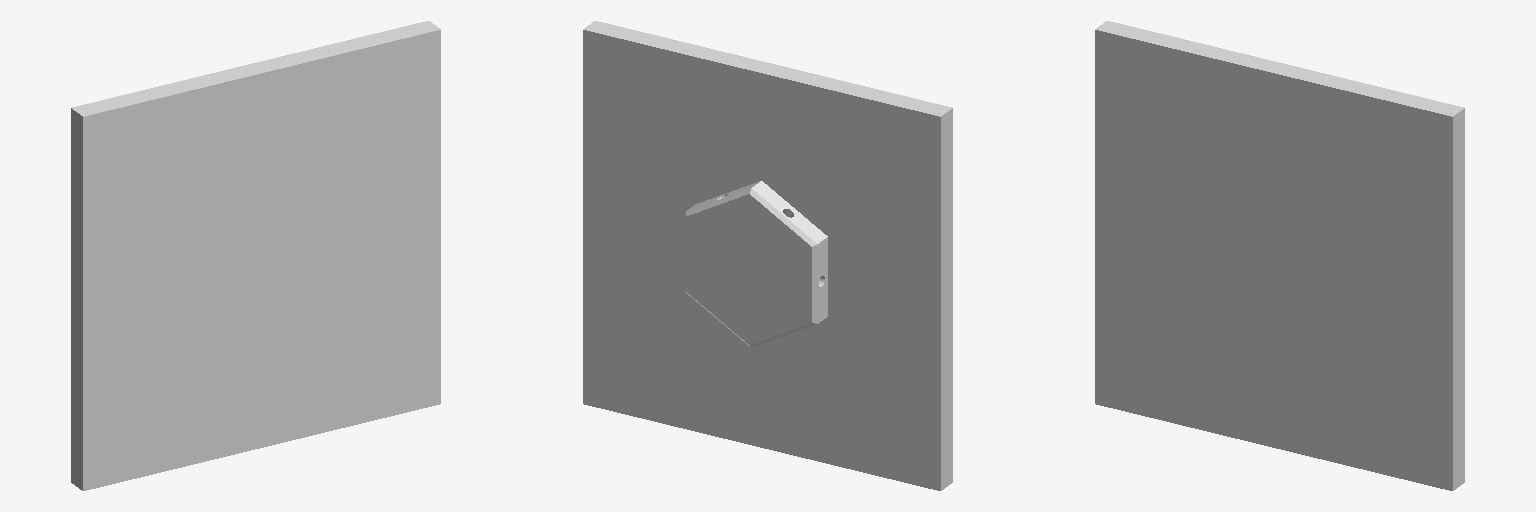
--- Render facts (derived) ---
Views: 3 orthographic renders of the robot side by side, from view 1: azimuth 30°, elevation 25°; view 2: azimuth 150°, elevation 25°; view 3: azimuth 330°, elevation 25°.
Robot: hephaestus_calbration — 7 links, 6 joints (6 revolute); root link link1; default pose: every joint at zero.
Visible links, largest first — view 1: link7; view 2: link7; view 3: link7.
Link boxes in pixels (x1=…): link7: x1=71, y1=21, x2=440, y2=490; link7: x1=583, y1=21, x2=952, y2=490; link7: x1=1095, y1=21, x2=1464, y2=490.
Bounding box of the posed robot: 100 × 12.09 × 100 m (x, y, z).
236 mesh visuals loaded from 52 distinct referenced files (51 binary STL); not drawn: 2 (reference not matched to a file when rendering).

robot.urdf — hephaestus_calbration:
<robot name="hephaestus_calbration">
<link name="link1">
<visual>
<origin xyz="1.3792584575397063074e-18 -1.7516230804060213387e-46 1.4171762190870562479e-48" rpy="2.8500753929115218458e-28 2.9400200094311407188e-31 -5.36636722058665712e-46" />
<geometry>
<mesh filename="package://hephaestus_description/meshes/base_link.stl"/>
</geometry>
<material name="base_link_material">
<color rgba="0 0 0 1.0"/>
</material>
</visual>
<collision>
<origin xyz="1.3792584575397063074e-18 -1.7516230804060213387e-46 1.4171762190870562479e-48" rpy="2.8500753929115218458e-28 2.9400200094311407188e-31 -5.36636722058665712e-46" />
<geometry>
<mesh filename="package://hephaestus_description/meshes/base_link.stl"/>
</geometry>
</collision>
<inertial>
<origin xyz="-3.1427067427220941083e-19 4.999089277745036229e-18 0.0015000000000000000312" rpy="0 0 0"/>
<mass value="0.078163293318619431194" />
<inertia ixx="0.00012319194219407781006" ixy="-4.8590653517577475747e-35"  ixz="2.1507073199217931643e-34" iyy="0.00012319194219407778295" iyz="-2.7341089331277944535e-20" izz="0.00024626663944817765283" />
</inertial>
</link>

<link name="link2">
<visual>
<origin xyz="0.0083434588481235694157 -0.043000000000000052069 -0.086678525939969150449" rpy="1.570796326794896558 1.570796326794896558 0" />
<geometry>
<mesh filename="package://hephaestus_description/meshes/m3_20mm.stl"/>
</geometry>
<material name="m3_20mm_material">
<color rgba="0.90196078431372550543 0.90196078431372550543 0.90196078431372550543 1.0"/>
</material>
</visual>
<collision>
<origin xyz="0.0083434588481235694157 -0.043000000000000052069 -0.086678525939969150449" rpy="1.570796326794896558 1.570796326794896558 0" />
<geometry>
<mesh filename="package://hephaestus_description/meshes/m3_20mm.stl"/>
</geometry>
</collision>
<visual>
<origin xyz="0.018500000000000016431 0.032042939940024210699 -0.0069999999999999541755" rpy="-3.141592653589793116 -1.0437261642823716977e-32 1.570796326794896558" />
<geometry>
<mesh filename="package://hephaestus_description/meshes/m3_25mm.stl"/>
</geometry>
<material name="m3_25mm_material">
<color rgba="0.90196078431372550543 0.90196078431372550543 0.90196078431372550543 1.0"/>
</material>
</visual>
<collision>
<origin xyz="0.018500000000000016431 0.032042939940024210699 -0.0069999999999999541755" rpy="-3.141592653589793116 -1.0437261642823716977e-32 1.570796326794896558" />
<geometry>
<mesh filename="package://hephaestus_description/meshes/m3_25mm.stl"/>
</geometry>
</collision>
<visual>
<origin xyz="-0.0083434588481228443013 -0.043000000000000010436 -0.086678525939969178205" rpy="1.570796326794896558 1.570796326794896558 0" />
<geometry>
<mesh filename="package://hephaestus_description/meshes/m3_20mm.stl"/>
</geometry>
<material name="m3_20mm_material">
<color rgba="0.90196078431372550543 0.90196078431372550543 0.90196078431372550543 1.0"/>
</material>
</visual>
<collision>
<origin xyz="-0.0083434588481228443013 -0.043000000000000010436 -0.086678525939969178205" rpy="1.570796326794896558 1.570796326794896558 0" />
<geometry>
<mesh filename="package://hephaestus_description/meshes/m3_20mm.stl"/>
</geometry>
</collision>
<visual>
<origin xyz="0.0083434588481235694157 -0.043000000000000065947 -0.035321474060033511422" rpy="1.570796326794896558 1.570796326794896558 0" />
<geometry>
<mesh filename="package://hephaestus_description/meshes/m3_20mm.stl"/>
</geometry>
<material name="m3_20mm_material">
<color rgba="0.90196078431372550543 0.90196078431372550543 0.90196078431372550543 1.0"/>
</material>
</visual>
<collision>
<origin xyz="0.0083434588481235694157 -0.043000000000000065947 -0.035321474060033511422" rpy="1.570796326794896558 1.570796326794896558 0" />
<geometry>
<mesh filename="package://hephaestus_description/meshes/m3_20mm.stl"/>
</geometry>
</collision>
<visual>
<origin xyz="0.025678525939968357278 -0.043000000000000031253 -0.069343458848124484017" rpy="1.570796326794896558 1.570796326794896558 0" />
<geometry>
<mesh filename="package://hephaestus_description/meshes/m3_20mm.stl"/>
</geometry>
<material name="m3_20mm_material">
<color rgba="0.90196078431372550543 0.90196078431372550543 0.90196078431372550543 1.0"/>
</material>
</visual>
<collision>
<origin xyz="0.025678525939968357278 -0.043000000000000031253 -0.069343458848124484017" rpy="1.570796326794896558 1.570796326794896558 0" />
<geometry>
<mesh filename="package://hephaestus_description/meshes/m3_20mm.stl"/>
</geometry>
</collision>
<visual>
<origin xyz="-6.498429976115837117e-18 -1.8029186155748759218e-17 -0.012999999999999964709" rpy="-9.9667941775237359666e-33 -1.0437261642816966386e-32 1.570796326794896558" />
<geometry>
<mesh filename="package://hephaestus_description/meshes/me8010e17b50_bracket.stl"/>
</geometry>
<material name="me8010e17b50_bracket_material">
<color rgba="0.90196078431372550543 0.90196078431372550543 0.90196078431372550543 1.0"/>
</material>
</visual>
<collision>
<origin xyz="-6.498429976115837117e-18 -1.8029186155748759218e-17 -0.012999999999999964709" rpy="-9.9667941775237359666e-33 -1.0437261642816966386e-32 1.570796326794896558" />
<geometry>
<mesh filename="package://hephaestus_description/meshes/me8010e17b50_bracket.stl"/>
</geometry>
</collision>
<visual>
<origin xyz="-0.021843458848122228322 -0.043000000000000059008 -0.045129798188105370305" rpy="1.570796326794896558 1.570796326794896558 0" />
<geometry>
<mesh filename="package://hephaestus_description/meshes/m3_20mm.stl"/>
</geometry>
<material name="m3_20mm_material">
<color rgba="0.90196078431372550543 0.90196078431372550543 0.90196078431372550543 1.0"/>
</material>
</visual>
<collision>
<origin xyz="-0.021843458848122228322 -0.043000000000000059008 -0.045129798188105370305" rpy="1.570796326794896558 1.570796326794896558 0" />
<geometry>
<mesh filename="package://hephaestus_description/meshes/m3_20mm.stl"/>
</geometry>
</collision>
<visual>
<origin xyz="0.015870201811896425537 -0.043000000000000024314 -0.082843458848123802118" rpy="1.570796326794896558 1.5707963267948958919 0" />
<geometry>
<mesh filename="package://hephaestus_description/meshes/m3_20mm.stl"/>
</geometry>
<material name="m3_20mm_material">
<color rgba="0.90196078431372550543 0.90196078431372550543 0.90196078431372550543 1.0"/>
</material>
</visual>
<collision>
<origin xyz="0.015870201811896425537 -0.043000000000000024314 -0.082843458848123802118" rpy="1.570796326794896558 1.5707963267948958919 0" />
<geometry>
<mesh filename="package://hephaestus_description/meshes/m3_20mm.stl"/>
</geometry>
</collision>
<visual>
<origin xyz="-0.018500000000000009492 -0.032042939940024259271 -0.0069999999999999611144" rpy="-3.141592653589793116 -1.0437261642823716977e-32 1.570796326794896558" />
<geometry>
<mesh filename="package://hephaestus_description/meshes/m3_25mm.stl"/>
</geometry>
<material name="m3_25mm_material">
<color rgba="0.90196078431372550543 0.90196078431372550543 0.90196078431372550543 1.0"/>
</material>
</visual>
<collision>
<origin xyz="-0.018500000000000009492 -0.032042939940024259271 -0.0069999999999999611144" rpy="-3.141592653589793116 -1.0437261642823716977e-32 1.570796326794896558" />
<geometry>
<mesh filename="package://hephaestus_description/meshes/m3_25mm.stl"/>
</geometry>
</collision>
<visual>
<origin xyz="-0.015870201811895665728 -0.043000000000000045131 -0.039156541151878859752" rpy="1.570796326794896558 1.5707963267948958919 0" />
<geometry>
<mesh filename="package://hephaestus_description/meshes/m3_20mm.stl"/>
</geometry>
<material name="m3_20mm_material">
<color rgba="0.90196078431372550543 0.90196078431372550543 0.90196078431372550543 1.0"/>
</material>
</visual>
<collision>
<origin xyz="-0.015870201811895665728 -0.043000000000000045131 -0.039156541151878859752" rpy="1.570796326794896558 1.5707963267948958919 0" />
<geometry>
<mesh filename="package://hephaestus_description/meshes/m3_20mm.stl"/>
</geometry>
</collision>
<visual>
<origin xyz="-0.015870201811895703892 -0.043000000000000024314 -0.082843458848123802118" rpy="1.570796326794896558 1.5707963267948956698 0" />
<geometry>
<mesh filename="package://hephaestus_description/meshes/m3_20mm.stl"/>
</geometry>
<material name="m3_20mm_material">
<color rgba="0.90196078431372550543 0.90196078431372550543 0.90196078431372550543 1.0"/>
</material>
</visual>
<collision>
<origin xyz="-0.015870201811895703892 -0.043000000000000024314 -0.082843458848123802118" rpy="1.570796326794896558 1.5707963267948956698 0" />
<geometry>
<mesh filename="package://hephaestus_description/meshes/m3_20mm.stl"/>
</geometry>
</collision>
<visual>
<origin xyz="-0.021843458848122224852 -0.043000000000000045131 -0.076870201811897340138" rpy="1.570796326794896558 1.570796326794896558 0" />
<geometry>
<mesh filename="package://hephaestus_description/meshes/m3_20mm.stl"/>
</geometry>
<material name="m3_20mm_material">
<color rgba="0.90196078431372550543 0.90196078431372550543 0.90196078431372550543 1.0"/>
</material>
</visual>
<collision>
<origin xyz="-0.021843458848122224852 -0.043000000000000045131 -0.076870201811897340138" rpy="1.570796326794896558 1.570796326794896558 0" />
<geometry>
<mesh filename="package://hephaestus_description/meshes/m3_20mm.stl"/>
</geometry>
</collision>
<visual>
<origin xyz="-0.025678525939967628694 -0.043000000000000052069 -0.052656541151878163975" rpy="1.570796326794896558 1.570796326794896558 0" />
<geometry>
<mesh filename="package://hephaestus_description/meshes/m3_20mm.stl"/>
</geometry>
<material name="m3_20mm_material">
<color rgba="0.90196078431372550543 0.90196078431372550543 0.90196078431372550543 1.0"/>
</material>
</visual>
<collision>
<origin xyz="-0.025678525939967628694 -0.043000000000000052069 -0.052656541151878163975" rpy="1.570796326794896558 1.570796326794896558 0" />
<geometry>
<mesh filename="package://hephaestus_description/meshes/m3_20mm.stl"/>
</geometry>
</collision>
<visual>
<origin xyz="0.032042939940024224577 -0.018500000000000044187 -0.006999999999999938563" rpy="-3.141592653589793116 -1.0437261642835255794e-32 1.570796326794896558" />
<geometry>
<mesh filename="package://hephaestus_description/meshes/m3_25mm.stl"/>
</geometry>
<material name="m3_25mm_material">
<color rgba="0.90196078431372550543 0.90196078431372550543 0.90196078431372550543 1.0"/>
</material>
</visual>
<collision>
<origin xyz="0.032042939940024224577 -0.018500000000000044187 -0.006999999999999938563" rpy="-3.141592653589793116 -1.0437261642835255794e-32 1.570796326794896558" />
<geometry>
<mesh filename="package://hephaestus_description/meshes/m3_25mm.stl"/>
</geometry>
</collision>
<visual>
<origin xyz="-0.018500000000000009492 0.032042939940024238454 -0.0069999999999999628492" rpy="-3.141592653589793116 -1.0437261642823716977e-32 1.570796326794896558" />
<geometry>
<mesh filename="package://hephaestus_description/meshes/m3_25mm.stl"/>
</geometry>
<material name="m3_25mm_material">
<color rgba="0.90196078431372550543 0.90196078431372550543 0.90196078431372550543 1.0"/>
</material>
</visual>
<collision>
<origin xyz="-0.018500000000000009492 0.032042939940024238454 -0.0069999999999999628492" rpy="-3.141592653589793116 -1.0437261642823716977e-32 1.570796326794896558" />
<geometry>
<mesh filename="package://hephaestus_description/meshes/m3_25mm.stl"/>
</geometry>
</collision>
<visual>
<origin xyz="0.021843458848122967314 -0.043000000000000052069 -0.045129798188105377243" rpy="1.570796326794896558 1.5707963267948958919 0" />
<geometry>
<mesh filename="package://hephaestus_description/meshes/m3_20mm.stl"/>
</geometry>
<material name="m3_20mm_material">
<color rgba="0.90196078431372550543 0.90196078431372550543 0.90196078431372550543 1.0"/>
</material>
</visual>
<collision>
<origin xyz="0.021843458848122967314 -0.043000000000000052069 -0.045129798188105377243" rpy="1.570796326794896558 1.5707963267948958919 0" />
<geometry>
<mesh filename="package://hephaestus_description/meshes/m3_20mm.stl"/>
</geometry>
</collision>
<visual>
<origin xyz="-0.025678525939967628694 -0.043000000000000045131 -0.069343458848124484017" rpy="1.570796326794896558 1.570796326794896558 0" />
<geometry>
<mesh filename="package://hephaestus_description/meshes/m3_20mm.stl"/>
</geometry>
<material name="m3_20mm_material">
<color rgba="0.90196078431372550543 0.90196078431372550543 0.90196078431372550543 1.0"/>
</material>
</visual>
<collision>
<origin xyz="-0.025678525939967628694 -0.043000000000000045131 -0.069343458848124484017" rpy="1.570796326794896558 1.570796326794896558 0" />
<geometry>
<mesh filename="package://hephaestus_description/meshes/m3_20mm.stl"/>
</geometry>
</collision>
<visual>
<origin xyz="-6.8386350077130765347e-18 0.037000000000000012046 -0.0069999999999999541755" rpy="-3.141592653589793116 -1.0437261642823716977e-32 1.570796326794896558" />
<geometry>
<mesh filename="package://hephaestus_description/meshes/m3_25mm.stl"/>
</geometry>
<material name="m3_25mm_material">
<color rgba="0.90196078431372550543 0.90196078431372550543 0.90196078431372550543 1.0"/>
</material>
</visual>
<collision>
<origin xyz="-6.8386350077130765347e-18 0.037000000000000012046 -0.0069999999999999541755" rpy="-3.141592653589793116 -1.0437261642823716977e-32 1.570796326794896558" />
<geometry>
<mesh filename="package://hephaestus_description/meshes/m3_25mm.stl"/>
</geometry>
</collision>
<visual>
<origin xyz="0.037000000000000005107 -2.0785110348950738811e-17 -0.0069999999999999507061" rpy="-3.141592653589793116 -1.0437261642823716977e-32 1.570796326794896558" />
<geometry>
<mesh filename="package://hephaestus_description/meshes/m3_25mm.stl"/>
</geometry>
<material name="m3_25mm_material">
<color rgba="0.90196078431372550543 0.90196078431372550543 0.90196078431372550543 1.0"/>
</material>
</visual>
<collision>
<origin xyz="0.037000000000000005107 -2.0785110348950738811e-17 -0.0069999999999999507061" rpy="-3.141592653589793116 -1.0437261642823716977e-32 1.570796326794896558" />
<geometry>
<mesh filename="package://hephaestus_description/meshes/m3_25mm.stl"/>
</geometry>
</collision>
<visual>
<origin xyz="-0.032042939940024238454 0.018499999999999995615 -0.0069999999999999489714" rpy="-3.141592653589793116 -1.0437261642823716977e-32 1.570796326794896558" />
<geometry>
<mesh filename="package://hephaestus_description/meshes/m3_25mm.stl"/>
</geometry>
<material name="m3_25mm_material">
<color rgba="0.90196078431372550543 0.90196078431372550543 0.90196078431372550543 1.0"/>
</material>
</visual>
<collision>
<origin xyz="-0.032042939940024238454 0.018499999999999995615 -0.0069999999999999489714" rpy="-3.141592653589793116 -1.0437261642823716977e-32 1.570796326794896558" />
<geometry>
<mesh filename="package://hephaestus_description/meshes/m3_25mm.stl"/>
</geometry>
</collision>
<visual>
<origin xyz="-0.032042939940024245393 -0.01850000000000002337 -0.006999999999999938563" rpy="-3.141592653589793116 -1.0437261642823716977e-32 1.570796326794896558" />
<geometry>
<mesh filename="package://hephaestus_description/meshes/m3_25mm.stl"/>
</geometry>
<material name="m3_25mm_material">
<color rgba="0.90196078431372550543 0.90196078431372550543 0.90196078431372550543 1.0"/>
</material>
</visual>
<collision>
<origin xyz="-0.032042939940024245393 -0.01850000000000002337 -0.006999999999999938563" rpy="-3.141592653589793116 -1.0437261642823716977e-32 1.570796326794896558" />
<geometry>
<mesh filename="package://hephaestus_description/meshes/m3_25mm.stl"/>
</geometry>
</collision>
<visual>
<origin xyz="0.015870201811896429006 -0.043000000000000038192 -0.03915654115187887363" rpy="1.570796326794896558 1.570796326794896558 0" />
<geometry>
<mesh filename="package://hephaestus_description/meshes/m3_20mm.stl"/>
</geometry>
<material name="m3_20mm_material">
<color rgba="0.90196078431372550543 0.90196078431372550543 0.90196078431372550543 1.0"/>
</material>
</visual>
<collision>
<origin xyz="0.015870201811896429006 -0.043000000000000038192 -0.03915654115187887363" rpy="1.570796326794896558 1.570796326794896558 0" />
<geometry>
<mesh filename="package://hephaestus_description/meshes/m3_20mm.stl"/>
</geometry>
</collision>
<visual>
<origin xyz="0.018499999999999985206 -0.032042939940024259271 -0.0069999999999999541755" rpy="-3.141592653589793116 -1.0437261642823716977e-32 1.570796326794896558" />
<geometry>
<mesh filename="package://hephaestus_description/meshes/m3_25mm.stl"/>
</geometry>
<material name="m3_25mm_material">
<color rgba="0.90196078431372550543 0.90196078431372550543 0.90196078431372550543 1.0"/>
</material>
</visual>
<collision>
<origin xyz="0.018499999999999985206 -0.032042939940024259271 -0.0069999999999999541755" rpy="-3.141592653589793116 -1.0437261642823716977e-32 1.570796326794896558" />
<geometry>
<mesh filename="package://hephaestus_description/meshes/m3_25mm.stl"/>
</geometry>
</collision>
<visual>
<origin xyz="0.025678525939968364217 -0.043000000000000031253 -0.052656541151878163975" rpy="1.570796326794896558 1.5707963267948958919 0" />
<geometry>
<mesh filename="package://hephaestus_description/meshes/m3_20mm.stl"/>
</geometry>
<material name="m3_20mm_material">
<color rgba="0.90196078431372550543 0.90196078431372550543 0.90196078431372550543 1.0"/>
</material>
</visual>
<collision>
<origin xyz="0.025678525939968364217 -0.043000000000000031253 -0.052656541151878163975" rpy="1.570796326794896558 1.5707963267948958919 0" />
<geometry>
<mesh filename="package://hephaestus_description/meshes/m3_20mm.stl"/>
</geometry>
</collision>
<visual>
<origin xyz="0.021843458848122963845 -0.043000000000000024314 -0.076870201811897312383" rpy="1.570796326794896558 1.570796326794896558 0" />
<geometry>
<mesh filename="package://hephaestus_description/meshes/m3_20mm.stl"/>
</geometry>
<material name="m3_20mm_material">
<color rgba="0.90196078431372550543 0.90196078431372550543 0.90196078431372550543 1.0"/>
</material>
</visual>
<collision>
<origin xyz="0.021843458848122963845 -0.043000000000000024314 -0.076870201811897312383" rpy="1.570796326794896558 1.570796326794896558 0" />
<geometry>
<mesh filename="package://hephaestus_description/meshes/m3_20mm.stl"/>
</geometry>
</collision>
<visual>
<origin xyz="-0.037000000000000012046 -1.3894436677572873739e-17 -0.0069999999999999524408" rpy="-3.141592653589793116 -1.0437261642823716977e-32 1.570796326794896558" />
<geometry>
<mesh filename="package://hephaestus_description/meshes/m3_25mm.stl"/>
</geometry>
<material name="m3_25mm_material">
<color rgba="0.90196078431372550543 0.90196078431372550543 0.90196078431372550543 1.0"/>
</material>
</visual>
<collision>
<origin xyz="-0.037000000000000012046 -1.3894436677572873739e-17 -0.0069999999999999524408" rpy="-3.141592653589793116 -1.0437261642823716977e-32 1.570796326794896558" />
<geometry>
<mesh filename="package://hephaestus_description/meshes/m3_25mm.stl"/>
</geometry>
</collision>
<visual>
<origin xyz="-0.0083434588481228182805 -0.043000000000000031253 -0.035321474060033504483" rpy="1.570796326794896558 1.570796326794896558 0" />
<geometry>
<mesh filename="package://hephaestus_description/meshes/m3_20mm.stl"/>
</geometry>
<material name="m3_20mm_material">
<color rgba="0.90196078431372550543 0.90196078431372550543 0.90196078431372550543 1.0"/>
</material>
</visual>
<collision>
<origin xyz="-0.0083434588481228182805 -0.043000000000000031253 -0.035321474060033504483" rpy="1.570796326794896558 1.570796326794896558 0" />
<geometry>
<mesh filename="package://hephaestus_description/meshes/m3_20mm.stl"/>
</geometry>
</collision>
<visual>
<origin xyz="0.032042939940024238454 0.018499999999999995615 -0.0069999999999999489714" rpy="-3.141592653589793116 -1.0437261642823716977e-32 1.570796326794896558" />
<geometry>
<mesh filename="package://hephaestus_description/meshes/m3_25mm.stl"/>
</geometry>
<material name="m3_25mm_material">
<color rgba="0.90196078431372550543 0.90196078431372550543 0.90196078431372550543 1.0"/>
</material>
</visual>
<collision>
<origin xyz="0.032042939940024238454 0.018499999999999995615 -0.0069999999999999489714" rpy="-3.141592653589793116 -1.0437261642823716977e-32 1.570796326794896558" />
<geometry>
<mesh filename="package://hephaestus_description/meshes/m3_25mm.stl"/>
</geometry>
</collision>
<visual>
<origin xyz="-1.1259062449298334462e-17 -0.037000000000000039801 -0.0069999999999999472367" rpy="-3.141592653589793116 -1.0437261642823716977e-32 1.570796326794896558" />
<geometry>
<mesh filename="package://hephaestus_description/meshes/m3_25mm.stl"/>
</geometry>
<material name="m3_25mm_material">
<color rgba="0.90196078431372550543 0.90196078431372550543 0.90196078431372550543 1.0"/>
</material>
</visual>
<collision>
<origin xyz="-1.1259062449298334462e-17 -0.037000000000000039801 -0.0069999999999999472367" rpy="-3.141592653589793116 -1.0437261642823716977e-32 1.570796326794896558" />
<geometry>
<mesh filename="package://hephaestus_description/meshes/m3_25mm.stl"/>
</geometry>
</collision>
<visual>
<origin xyz="-4.8404832616855861626e-19 -1.4170265403514080542e-17 -0.069999999999999978906" rpy="-1.4685109110633043062e-32 1.043726164281609468e-32 -1.570796326794896558" />
<geometry>
<mesh filename="package://hephaestus_description/meshes/base.stl"/>
</geometry>
<material name="base_material">
<color rgba="0 0 0 1.0"/>
</material>
</visual>
<collision>
<origin xyz="-4.8404832616855861626e-19 -1.4170265403514080542e-17 -0.069999999999999978906" rpy="-1.4685109110633043062e-32 1.043726164281609468e-32 -1.570796326794896558" />
<geometry>
<mesh filename="package://hephaestus_description/meshes/base.stl"/>
</geometry>
</collision>
<visual>
<origin xyz="-1.2037062152420224082e-35 -3.8518598887744717061e-34 0.0030000000000000000625" rpy="-3.141592653589793116 1.4685109110633043062e-32 -3.7424946697838026933e-31" />
<geometry>
<mesh filename="package://hephaestus_description/meshes/flange.stl"/>
</geometry>
<material name="flange_material">
<color rgba="0.90196078431372550543 0.90196078431372550543 0.90196078431372550543 1.0"/>
</material>
</visual>
<collision>
<origin xyz="-1.2037062152420224082e-35 -3.8518598887744717061e-34 0.0030000000000000000625" rpy="-3.141592653589793116 1.4685109110633043062e-32 -3.7424946697838026933e-31" />
<geometry>
<mesh filename="package://hephaestus_description/meshes/flange.stl"/>
</geometry>
</collision>
<inertial>
<origin xyz="8.8425527110183837714e-08 -0.0047244140532892988857 -0.035740371308818831564" rpy="0 0 0"/>
<mass value="1.1523014929706003606" />
<inertia ixx="0.0011723236064433472173" ixy="2.1940126307152708164e-09"  ixz="9.6385363703892172769e-10" iyy="0.0010177433725059531564" iyz="-7.029493520058219193e-05" izz="0.0012404580302936669359" />
</inertial>
</link>

<link name="link3">
<visual>
<origin xyz="-0.018500000000006063677 -0.032042939940027305445 -0.0070000000000029760638" rpy="3.1415926535897300553 5.7010285109476116487e-14 1.5707963267947127051" />
<geometry>
<mesh filename="package://hephaestus_description/meshes/m3_25mm.stl"/>
</geometry>
<material name="m3_25mm_material">
<color rgba="0.90196078431372550543 0.90196078431372550543 0.90196078431372550543 1.0"/>
</material>
</visual>
<collision>
<origin xyz="-0.018500000000006063677 -0.032042939940027305445 -0.0070000000000029760638" rpy="3.1415926535897300553 5.7010285109476116487e-14 1.5707963267947127051" />
<geometry>
<mesh filename="package://hephaestus_description/meshes/m3_25mm.stl"/>
</geometry>
</collision>
<visual>
<origin xyz="-0.032042939940023211498 0.018500000000007343903 -0.0070000000000031217806" rpy="3.1415926535897304994 5.7226550920441656821e-14 1.570796326794712261" />
<geometry>
<mesh filename="package://hephaestus_description/meshes/m3_25mm.stl"/>
</geometry>
<material name="m3_25mm_material">
<color rgba="0.90196078431372550543 0.90196078431372550543 0.90196078431372550543 1.0"/>
</material>
</visual>
<collision>
<origin xyz="-0.032042939940023211498 0.018500000000007343903 -0.0070000000000031217806" rpy="3.1415926535897304994 5.7226550920441656821e-14 1.570796326794712261" />
<geometry>
<mesh filename="package://hephaestus_description/meshes/m3_25mm.stl"/>
</geometry>
</collision>
<visual>
<origin xyz="-0.018499999999953178897 0.3110429399400820305 -0.0069999999999952738916" rpy="3.1415926535897304994 5.76883245572799983e-14 1.570796326794712483" />
<geometry>
<mesh filename="package://hephaestus_description/meshes/m3_25mm.stl"/>
</geometry>
<material name="m3_25mm_material">
<color rgba="0.90196078431372550543 0.90196078431372550543 0.90196078431372550543 1.0"/>
</material>
</visual>
<collision>
<origin xyz="-0.018499999999953178897 0.3110429399400820305 -0.0069999999999952738916" rpy="3.1415926535897304994 5.76883245572799983e-14 1.570796326794712483" />
<geometry>
<mesh filename="package://hephaestus_description/meshes/m3_25mm.stl"/>
</geometry>
</collision>
<visual>
<origin xyz="0.018500000000048717058 0.31104293994007814472 -0.0069999999999922762894" rpy="3.1415926535897304994 5.6939008643900087402e-14 1.570796326794712483" />
<geometry>
<mesh filename="package://hephaestus_description/meshes/m3_25mm.stl"/>
</geometry>
<material name="m3_25mm_material">
<color rgba="0.90196078431372550543 0.90196078431372550543 0.90196078431372550543 1.0"/>
</material>
</visual>
<collision>
<origin xyz="0.018500000000048717058 0.31104293994007814472 -0.0069999999999922762894" rpy="3.1415926535897304994 5.6939008643900087402e-14 1.570796326794712483" />
<geometry>
<mesh filename="package://hephaestus_description/meshes/m3_25mm.stl"/>
</geometry>
</collision>
<visual>
<origin xyz="-0.036999999999959003183 0.2790000000000539826 -0.0069999999999974318876" rpy="3.1415926535897304994 5.6939008643900087402e-14 1.570796326794712483" />
<geometry>
<mesh filename="package://hephaestus_description/meshes/m3_25mm.stl"/>
</geometry>
<material name="m3_25mm_material">
<color rgba="0.90196078431372550543 0.90196078431372550543 0.90196078431372550543 1.0"/>
</material>
</visual>
<collision>
<origin xyz="-0.036999999999959003183 0.2790000000000539826 -0.0069999999999974318876" rpy="3.1415926535897304994 5.6939008643900087402e-14 1.570796326794712483" />
<geometry>
<mesh filename="package://hephaestus_description/meshes/m3_25mm.stl"/>
</geometry>
</collision>
<visual>
<origin xyz="0.018500000000005751427 0.032042939940028616896 -0.0069999999999986323163" rpy="3.1415926535897304994 5.7226550920441656821e-14 1.570796326794712261" />
<geometry>
<mesh filename="package://hephaestus_description/meshes/m3_25mm.stl"/>
</geometry>
<material name="m3_25mm_material">
<color rgba="0.90196078431372550543 0.90196078431372550543 0.90196078431372550543 1.0"/>
</material>
</visual>
<collision>
<origin xyz="0.018500000000005751427 0.032042939940028616896 -0.0069999999999986323163" rpy="3.1415926535897304994 5.7226550920441656821e-14 1.570796326794712261" />
<geometry>
<mesh filename="package://hephaestus_description/meshes/m3_25mm.stl"/>
</geometry>
</collision>
<visual>
<origin xyz="0.03204293994006598284 0.26050000000004347456 -0.0069999999999922138394" rpy="3.1415926535897304994 5.6939008643900087402e-14 1.570796326794712483" />
<geometry>
<mesh filename="package://hephaestus_description/meshes/m3_25mm.stl"/>
</geometry>
<material name="m3_25mm_material">
<color rgba="0.90196078431372550543 0.90196078431372550543 0.90196078431372550543 1.0"/>
</material>
</visual>
<collision>
<origin xyz="0.03204293994006598284 0.26050000000004347456 -0.0069999999999922138394" rpy="3.1415926535897304994 5.6939008643900087402e-14 1.570796326794712483" />
<geometry>
<mesh filename="package://hephaestus_description/meshes/m3_25mm.stl"/>
</geometry>
</collision>
<visual>
<origin xyz="4.8587459908183552396e-14 0.31600000000005679102 -0.0069999999999936571293" rpy="3.1415926535897304994 5.6939008643900087402e-14 1.570796326794712483" />
<geometry>
<mesh filename="package://hephaestus_description/meshes/m3_25mm.stl"/>
</geometry>
<material name="m3_25mm_material">
<color rgba="0.90196078431372550543 0.90196078431372550543 0.90196078431372550543 1.0"/>
</material>
</visual>
<collision>
<origin xyz="4.8587459908183552396e-14 0.31600000000005679102 -0.0069999999999936571293" rpy="3.1415926535897304994 5.6939008643900087402e-14 1.570796326794712483" />
<geometry>
<mesh filename="package://hephaestus_description/meshes/m3_25mm.stl"/>
</geometry>
</collision>
<visual>
<origin xyz="-0.0059999999999653568297 0.2290000000000423086 -0.011999999999996346922" rpy="-1.5707963267950570962 -1.5707963267948443775 0" />
<geometry>
<mesh filename="package://hephaestus_description/meshes/m3_6mm.stl"/>
</geometry>
<material name="m3_6mm_material">
<color rgba="0.90196078431372550543 0.90196078431372550543 0.90196078431372550543 1.0"/>
</material>
</visual>
<collision>
<origin xyz="-0.0059999999999653568297 0.2290000000000423086 -0.011999999999996346922" rpy="-1.5707963267950570962 -1.5707963267948443775 0" />
<geometry>
<mesh filename="package://hephaestus_description/meshes/m3_6mm.stl"/>
</geometry>
</collision>
<visual>
<origin xyz="0.032042939940071610283 0.29750000000005005774 -0.0069999999999914436222" rpy="3.1415926535897304994 5.7680404949993763029e-14 1.570796326794712483" />
<geometry>
<mesh filename="package://hephaestus_description/meshes/m3_25mm.stl"/>
</geometry>
<material name="m3_25mm_material">
<color rgba="0.90196078431372550543 0.90196078431372550543 0.90196078431372550543 1.0"/>
</material>
</visual>
<collision>
<origin xyz="0.032042939940071610283 0.29750000000005005774 -0.0069999999999914436222" rpy="3.1415926535897304994 5.7680404949993763029e-14 1.570796326794712483" />
<geometry>
<mesh filename="package://hephaestus_description/meshes/m3_25mm.stl"/>
</geometry>
</collision>
<visual>
<origin xyz="0.018499999999995877381 -0.032042939940031246737 -0.0069999999999999229505" rpy="3.1415926535897300553 5.7010285109476116487e-14 1.5707963267947127051" />
<geometry>
<mesh filename="package://hephaestus_description/meshes/m3_25mm.stl"/>
</geometry>
<material name="m3_25mm_material">
<color rgba="0.90196078431372550543 0.90196078431372550543 0.90196078431372550543 1.0"/>
</material>
</visual>
<collision>
<origin xyz="0.018499999999995877381 -0.032042939940031246737 -0.0069999999999999229505" rpy="3.1415926535897300553 5.7010285109476116487e-14 1.5707963267947127051" />
<geometry>
<mesh filename="package://hephaestus_description/meshes/m3_25mm.stl"/>
</geometry>
</collision>
<visual>
<origin xyz="-0.032042939940028887513 -0.018499999999999218459 -0.0070000000000038364867" rpy="3.1415926535897300553 5.7010285109476116487e-14 1.5707963267947127051" />
<geometry>
<mesh filename="package://hephaestus_description/meshes/m3_25mm.stl"/>
</geometry>
<material name="m3_25mm_material">
<color rgba="0.90196078431372550543 0.90196078431372550543 0.90196078431372550543 1.0"/>
</material>
</visual>
<collision>
<origin xyz="-0.032042939940028887513 -0.018499999999999218459 -0.0070000000000038364867" rpy="3.1415926535897300553 5.7010285109476116487e-14 1.5707963267947127051" />
<geometry>
<mesh filename="package://hephaestus_description/meshes/m3_25mm.stl"/>
</geometry>
</collision>
<visual>
<origin xyz="-0.0059999999999655806091 0.22900000000004297473 -0.023999999999997564948" rpy="-1.5707963267950570962 -1.5707963267948443775 0" />
<geometry>
<mesh filename="package://hephaestus_description/meshes/m3_6mm.stl"/>
</geometry>
<material name="m3_6mm_material">
<color rgba="0.90196078431372550543 0.90196078431372550543 0.90196078431372550543 1.0"/>
</material>
</visual>
<collision>
<origin xyz="-0.0059999999999655806091 0.22900000000004297473 -0.023999999999997564948" rpy="-1.5707963267950570962 -1.5707963267948443775 0" />
<geometry>
<mesh filename="package://hephaestus_description/meshes/m3_6mm.stl"/>
</geometry>
</collision>
<visual>
<origin xyz="0.037000000000044788728 0.27900000000004610001 -0.0069999999999913811721" rpy="3.1415926535897304994 5.6939008643900087402e-14 1.570796326794712483" />
<geometry>
<mesh filename="package://hephaestus_description/meshes/m3_25mm.stl"/>
</geometry>
<material name="m3_25mm_material">
<color rgba="0.90196078431372550543 0.90196078431372550543 0.90196078431372550543 1.0"/>
</material>
</visual>
<collision>
<origin xyz="0.037000000000044788728 0.27900000000004610001 -0.0069999999999913811721" rpy="3.1415926535897304994 5.6939008643900087402e-14 1.570796326794712483" />
<geometry>
<mesh filename="package://hephaestus_description/meshes/m3_25mm.stl"/>
</geometry>
</collision>
<visual>
<origin xyz="6.6996458551049380928e-15 0.048000000000011991408 -0.049000000000003457457" rpy="-1.5707963267950564301 -1.5707963267948443775 0" />
<geometry>
<mesh filename="package://hephaestus_description/meshes/aluminum_tube_11_32_183.stl"/>
</geometry>
<material name="aluminum_tube_11_32_183_material">
<color rgba="0.90196078431372550543 0.90196078431372550543 0.90196078431372550543 1.0"/>
</material>
</visual>
<collision>
<origin xyz="6.6996458551049380928e-15 0.048000000000011991408 -0.049000000000003457457" rpy="-1.5707963267950564301 -1.5707963267948443775 0" />
<geometry>
<mesh filename="package://hephaestus_description/meshes/aluminum_tube_11_32_183.stl"/>
</geometry>
</collision>
<visual>
<origin xyz="-0.011999999999995188127 0.040025000000011828893 -0.049000000000004678702" rpy="-1.5707963267950564301 -1.5707963267948443775 0" />
<geometry>
<mesh filename="package://hephaestus_description/meshes/m4_8mm.stl"/>
</geometry>
<material name="m4_8mm_material">
<color rgba="0.90196078431372550543 0.90196078431372550543 0.90196078431372550543 1.0"/>
</material>
</visual>
<collision>
<origin xyz="-0.011999999999995188127 0.040025000000011828893 -0.049000000000004678702" rpy="-1.5707963267950564301 -1.5707963267948443775 0" />
<geometry>
<mesh filename="package://hephaestus_description/meshes/m4_8mm.stl"/>
</geometry>
</collision>
<visual>
<origin xyz="0.006000000000007656327 0.050000000000010050294 -0.024000000000000729083" rpy="1.5707963267950566522 1.5707963267948443775 0" />
<geometry>
<mesh filename="package://hephaestus_description/meshes/m3_6mm.stl"/>
</geometry>
<material name="m3_6mm_material">
<color rgba="0.90196078431372550543 0.90196078431372550543 0.90196078431372550543 1.0"/>
</material>
</visual>
<collision>
<origin xyz="0.006000000000007656327 0.050000000000010050294 -0.024000000000000729083" rpy="1.5707963267950566522 1.5707963267948443775 0" />
<geometry>
<mesh filename="package://hephaestus_description/meshes/m3_6mm.stl"/>
</geometry>
</collision>
<visual>
<origin xyz="-0.0059999999999928443906 0.050000000000010549894 -0.012000000000000704548" rpy="1.5707963267950566522 1.5707963267948443775 0" />
<geometry>
<mesh filename="package://hephaestus_description/meshes/m3_6mm.stl"/>
</geometry>
<material name="m3_6mm_material">
<color rgba="0.90196078431372550543 0.90196078431372550543 0.90196078431372550543 1.0"/>
</material>
</visual>
<collision>
<origin xyz="-0.0059999999999928443906 0.050000000000010549894 -0.012000000000000704548" rpy="1.5707963267950566522 1.5707963267948443775 0" />
<geometry>
<mesh filename="package://hephaestus_description/meshes/m3_6mm.stl"/>
</geometry>
</collision>
<visual>
<origin xyz="-5.8246591477463100075e-15 -0.037000000000005917045 -0.0070000000000016160406" rpy="3.1415926535897300553 5.7010285109476116487e-14 1.5707963267947127051" />
<geometry>
<mesh filename="package://hephaestus_description/meshes/m3_25mm.stl"/>
</geometry>
<material name="m3_25mm_material">
<color rgba="0.90196078431372550543 0.90196078431372550543 0.90196078431372550543 1.0"/>
</material>
</visual>
<collision>
<origin xyz="-5.8246591477463100075e-15 -0.037000000000005917045 -0.0070000000000016160406" rpy="3.1415926535897300553 5.7010285109476116487e-14 1.5707963267947127051" />
<geometry>
<mesh filename="package://hephaestus_description/meshes/m3_25mm.stl"/>
</geometry>
</collision>
<visual>
<origin xyz="-0.025999999999994746064 0.044000000000011252332 -0.0070000000000020254354" rpy="3.1415926535897300553 5.7877379539212291074e-14 1.570796326794712483" />
<geometry>
<mesh filename="package://hephaestus_description/meshes/m3_25mm.stl"/>
</geometry>
<material name="m3_25mm_material">
<color rgba="0.90196078431372550543 0.90196078431372550543 0.90196078431372550543 1.0"/>
</material>
</visual>
<collision>
<origin xyz="-0.025999999999994746064 0.044000000000011252332 -0.0070000000000020254354" rpy="3.1415926535897300553 5.7877379539212291074e-14 1.570796326794712483" />
<geometry>
<mesh filename="package://hephaestus_description/meshes/m3_25mm.stl"/>
</geometry>
</collision>
<visual>
<origin xyz="-0.0059999999999949694268 0.04002500000001191216 -0.059392304845418256165" rpy="-1.5707963267950564301 -1.5707963267948443775 0" />
<geometry>
<mesh filename="package://hephaestus_description/meshes/m4_8mm.stl"/>
</geometry>
<material name="m4_8mm_material">
<color rgba="0.90196078431372550543 0.90196078431372550543 0.90196078431372550543 1.0"/>
</material>
</visual>
<collision>
<origin xyz="-0.0059999999999949694268 0.04002500000001191216 -0.059392304845418256165" rpy="-1.5707963267950564301 -1.5707963267948443775 0" />
<geometry>
<mesh filename="package://hephaestus_description/meshes/m4_8mm.stl"/>
</geometry>
</collision>
<visual>
<origin xyz="3.7163031164116408449e-14 0.24200000000004354139 -0.0069999999999951975638" rpy="3.1415926535897304994 5.6939008643900087402e-14 1.570796326794712483" />
<geometry>
<mesh filename="package://hephaestus_description/meshes/m3_25mm.stl"/>
</geometry>
<material name="m3_25mm_material">
<color rgba="0.90196078431372550543 0.90196078431372550543 0.90196078431372550543 1.0"/>
</material>
</visual>
<collision>
<origin xyz="3.7163031164116408449e-14 0.24200000000004354139 -0.0069999999999951975638" rpy="3.1415926535897304994 5.6939008643900087402e-14 1.570796326794712483" />
<geometry>
<mesh filename="package://hephaestus_description/meshes/m3_25mm.stl"/>
</geometry>
</collision>
<visual>
<origin xyz="-0.025999999999965300868 0.235000000000045145 -0.0069999999999975012765" rpy="3.1415926535897304994 5.7680404949993763029e-14 1.570796326794712483" />
<geometry>
<mesh filename="package://hephaestus_description/meshes/m3_25mm.stl"/>
</geometry>
<material name="m3_25mm_material">
<color rgba="0.90196078431372550543 0.90196078431372550543 0.90196078431372550543 1.0"/>
</material>
</visual>
<collision>
<origin xyz="-0.025999999999965300868 0.235000000000045145 -0.0069999999999975012765" rpy="3.1415926535897304994 5.7680404949993763029e-14 1.570796326794712483" />
<geometry>
<mesh filename="package://hephaestus_description/meshes/m3_25mm.stl"/>
</geometry>
</collision>
<visual>
<origin xyz="0.0060000000000056986915 0.040025000000010135803 -0.059392304845418644743" rpy="-1.5707963267950575403 -1.5707963267948445996 0" />
<geometry>
<mesh filename="package://hephaestus_description/meshes/m4_8mm.stl"/>
</geometry>
<material name="m4_8mm_material">
<color rgba="0.90196078431372550543 0.90196078431372550543 0.90196078431372550543 1.0"/>
</material>
</visual>
<collision>
<origin xyz="0.0060000000000056986915 0.040025000000010135803 -0.059392304845418644743" rpy="-1.5707963267950575403 -1.5707963267948445996 0" />
<geometry>
<mesh filename="package://hephaestus_description/meshes/m4_8mm.stl"/>
</geometry>
</collision>
<visual>
<origin xyz="-0.0059999999999930057198 0.05000000000001132705 -0.024000000000001728284" rpy="1.5707963267950566522 1.5707963267948443775 0" />
<geometry>
<mesh filename="package://hephaestus_description/meshes/m3_6mm.stl"/>
</geometry>
<material name="m3_6mm_material">
<color rgba="0.90196078431372550543 0.90196078431372550543 0.90196078431372550543 1.0"/>
</material>
</visual>
<collision>
<origin xyz="-0.0059999999999930057198 0.05000000000001132705 -0.024000000000001728284" rpy="1.5707963267950566522 1.5707963267948443775 0" />
<geometry>
<mesh filename="package://hephaestus_description/meshes/m3_6mm.stl"/>
</geometry>
</collision>
<visual>
<origin xyz="-0.032042939939985894127 0.26050000000005024692 -0.0069999999999974180098" rpy="3.1415926535897304994 5.6939008643900087402e-14 1.570796326794712483" />
<geometry>
<mesh filename="package://hephaestus_description/meshes/m3_25mm.stl"/>
</geometry>
<material name="m3_25mm_material">
<color rgba="0.90196078431372550543 0.90196078431372550543 0.90196078431372550543 1.0"/>
</material>
</visual>
<collision>
<origin xyz="-0.032042939939985894127 0.26050000000005024692 -0.0069999999999974180098" rpy="3.1415926535897304994 5.6939008643900087402e-14 1.570796326794712483" />
<geometry>
<mesh filename="package://hephaestus_description/meshes/m3_25mm.stl"/>
</geometry>
</collision>
<visual>
<origin xyz="0.0060000000000078297993 0.05000000000000925926 -0.011999999999999733102" rpy="1.5707963267950566522 1.5707963267948443775 0" />
<geometry>
<mesh filename="package://hephaestus_description/meshes/m3_6mm.stl"/>
</geometry>
<material name="m3_6mm_material">
<color rgba="0.90196078431372550543 0.90196078431372550543 0.90196078431372550543 1.0"/>
</material>
</visual>
<collision>
<origin xyz="0.0060000000000078297993 0.05000000000000925926 -0.011999999999999733102" rpy="1.5707963267950566522 1.5707963267948443775 0" />
<geometry>
<mesh filename="package://hephaestus_description/meshes/m3_6mm.stl"/>
</geometry>
</collision>
<visual>
<origin xyz="0.032042939940028623835 0.018500000000000516032 -0.006999999999997862099" rpy="3.1415926535897300553 5.7877379539212291074e-14 1.570796326794712483" />
<geometry>
<mesh filename="package://hephaestus_description/meshes/m3_25mm.stl"/>
</geometry>
<material name="m3_25mm_material">
<color rgba="0.90196078431372550543 0.90196078431372550543 0.90196078431372550543 1.0"/>
</material>
</visual>
<collision>
<origin xyz="0.032042939940028623835 0.018500000000000516032 -0.006999999999997862099" rpy="3.1415926535897300553 5.7877379539212291074e-14 1.570796326794712483" />
<geometry>
<mesh filename="package://hephaestus_description/meshes/m3_25mm.stl"/>
</geometry>
</collision>
<visual>
<origin xyz="0.02600000000000800629 0.044000000000005756728 -0.0069999999999977510767" rpy="3.1415926535897300553 5.7877379539212291074e-14 1.570796326794712483" />
<geometry>
<mesh filename="package://hephaestus_description/meshes/m3_25mm.stl"/>
</geometry>
<material name="m3_25mm_material">
<color rgba="0.90196078431372550543 0.90196078431372550543 0.90196078431372550543 1.0"/>
</material>
</visual>
<collision>
<origin xyz="0.02600000000000800629 0.044000000000005756728 -0.0069999999999977510767" rpy="3.1415926535897300553 5.7877379539212291074e-14 1.570796326794712483" />
<geometry>
<mesh filename="package://hephaestus_description/meshes/m3_25mm.stl"/>
</geometry>
</collision>
<visual>
<origin xyz="0.0060000000000059745126 0.040025000000008706391 -0.038607695154589699582" rpy="-1.5707963267950575403 -1.5707963267948445996 0" />
<geometry>
<mesh filename="package://hephaestus_description/meshes/m4_8mm.stl"/>
</geometry>
<material name="m4_8mm_material">
<color rgba="0.90196078431372550543 0.90196078431372550543 0.90196078431372550543 1.0"/>
</material>
</visual>
<collision>
<origin xyz="0.0060000000000059745126 0.040025000000008706391 -0.038607695154589699582" rpy="-1.5707963267950575403 -1.5707963267948445996 0" />
<geometry>
<mesh filename="package://hephaestus_description/meshes/m4_8mm.stl"/>
</geometry>
</collision>
<visual>
<origin xyz="-0.018499999999996189631 0.032042939940032585944 -0.0070000000000016854296" rpy="3.1415926535897304994 5.7226550920441656821e-14 1.570796326794712261" />
<geometry>
<mesh filename="package://hephaestus_description/meshes/m3_25mm.stl"/>
</geometry>
<material name="m3_25mm_material">
<color rgba="0.90196078431372550543 0.90196078431372550543 0.90196078431372550543 1.0"/>
</material>
</visual>
<collision>
<origin xyz="-0.018499999999996189631 0.032042939940032585944 -0.0070000000000016854296" rpy="3.1415926535897304994 5.7226550920441656821e-14 1.570796326794712261" />
<geometry>
<mesh filename="package://hephaestus_description/meshes/m3_25mm.stl"/>
</geometry>
</collision>
<visual>
<origin xyz="-0.018499999999963070291 0.2469570600600222432 -0.0069999999999966408537" rpy="3.1415926535897304994 5.6939008643900087402e-14 1.570796326794712483" />
<geometry>
<mesh filename="package://hephaestus_description/meshes/m3_25mm.stl"/>
</geometry>
<material name="m3_25mm_material">
<color rgba="0.90196078431372550543 0.90196078431372550543 0.90196078431372550543 1.0"/>
</material>
</visual>
<collision>
<origin xyz="-0.018499999999963070291 0.2469570600600222432 -0.0069999999999966408537" rpy="3.1415926535897304994 5.6939008643900087402e-14 1.570796326794712483" />
<geometry>
<mesh filename="package://hephaestus_description/meshes/m3_25mm.stl"/>
</geometry>
</collision>
<visual>
<origin xyz="0.02600000000003749312 0.23500000000003948286 -0.0069999999999932269179" rpy="3.1415926535897304994 5.6939008643900087402e-14 1.570796326794712483" />
<geometry>
<mesh filename="package://hephaestus_description/meshes/m3_25mm.stl"/>
</geometry>
<material name="m3_25mm_material">
<color rgba="0.90196078431372550543 0.90196078431372550543 0.90196078431372550543 1.0"/>
</material>
</visual>
<collision>
<origin xyz="0.02600000000003749312 0.23500000000003948286 -0.0069999999999932269179" rpy="3.1415926535897304994 5.6939008643900087402e-14 1.570796326794712483" />
<geometry>
<mesh filename="package://hephaestus_description/meshes/m3_25mm.stl"/>
</geometry>
</collision>
<visual>
<origin xyz="0.032042939940022954759 -0.01850000000000604633 -0.0069999999999985768051" rpy="3.1415926535897300553 5.7877379539212291074e-14 1.570796326794712483" />
<geometry>
<mesh filename="package://hephaestus_description/meshes/m3_25mm.stl"/>
</geometry>
<material name="m3_25mm_material">
<color rgba="0.90196078431372550543 0.90196078431372550543 0.90196078431372550543 1.0"/>
</material>
</visual>
<collision>
<origin xyz="0.032042939940022954759 -0.01850000000000604633 -0.0069999999999985768051" rpy="3.1415926535897300553 5.7877379539212291074e-14 1.570796326794712483" />
<geometry>
<mesh filename="package://hephaestus_description/meshes/m3_25mm.stl"/>
</geometry>
</collision>
<visual>
<origin xyz="-0.032042939939980218111 0.29750000000005694112 -0.0069999999999966477926" rpy="3.1415926535897304994 5.7680404949993763029e-14 1.570796326794712483" />
<geometry>
<mesh filename="package://hephaestus_description/meshes/m3_25mm.stl"/>
</geometry>
<material name="m3_25mm_material">
<color rgba="0.90196078431372550543 0.90196078431372550543 0.90196078431372550543 1.0"/>
</material>
</visual>
<collision>
<origin xyz="-0.032042939939980218111 0.29750000000005694112 -0.0069999999999966477926" rpy="3.1415926535897304994 5.7680404949993763029e-14 1.570796326794712483" />
<geometry>
<mesh filename="package://hephaestus_description/meshes/m3_25mm.stl"/>
</geometry>
</collision>
<visual>
<origin xyz="0.0060000000000352514407 0.22900000000004164247 -0.023999999999996565747" rpy="-1.5707963267950570962 -1.5707963267948443775 0" />
<geometry>
<mesh filename="package://hephaestus_description/meshes/m3_6mm.stl"/>
</geometry>
<material name="m3_6mm_material">
<color rgba="0.90196078431372550543 0.90196078431372550543 0.90196078431372550543 1.0"/>
</material>
</visual>
<collision>
<origin xyz="0.0060000000000352514407 0.22900000000004164247 -0.023999999999996565747" rpy="-1.5707963267950570962 -1.5707963267948443775 0" />
<geometry>
<mesh filename="package://hephaestus_description/meshes/m3_6mm.stl"/>
</geometry>
</collision>
<visual>
<origin xyz="5.5581362328973795257e-15 0.037000000000007249312 -0.0070000000000000547895" rpy="3.1415926535897300553 5.7877379539212291074e-14 1.570796326794712483" />
<geometry>
<mesh filename="package://hephaestus_description/meshes/m3_25mm.stl"/>
</geometry>
<material name="m3_25mm_material">
<color rgba="0.90196078431372550543 0.90196078431372550543 0.90196078431372550543 1.0"/>
</material>
</visual>
<collision>
<origin xyz="5.5581362328973795257e-15 0.037000000000007249312 -0.0070000000000000547895" rpy="3.1415926535897300553 5.7877379539212291074e-14 1.570796326794712483" />
<geometry>
<mesh filename="package://hephaestus_description/meshes/m3_25mm.stl"/>
</geometry>
</collision>
<visual>
<origin xyz="-0.0059999999999950206012 0.040025000000010024781 -0.038607695154590698783" rpy="-1.5707963267950575403 -1.5707963267948445996 0" />
<geometry>
<mesh filename="package://hephaestus_description/meshes/m4_8mm.stl"/>
</geometry>
<material name="m4_8mm_material">
<color rgba="0.90196078431372550543 0.90196078431372550543 0.90196078431372550543 1.0"/>
</material>
</visual>
<collision>
<origin xyz="-0.0059999999999950206012 0.040025000000010024781 -0.038607695154590698783" rpy="-1.5707963267950575403 -1.5707963267948445996 0" />
<geometry>
<mesh filename="package://hephaestus_description/meshes/m4_8mm.stl"/>
</geometry>
</collision>
<visual>
<origin xyz="0.037000000000001823097 -3.2612801348363973375e-15 -0.0069999999999977927101" rpy="3.1415926535897300553 5.7010285109476116487e-14 1.5707963267947127051" />
<geometry>
<mesh filename="package://hephaestus_description/meshes/m3_25mm.stl"/>
</geometry>
<material name="m3_25mm_material">
<color rgba="0.90196078431372550543 0.90196078431372550543 0.90196078431372550543 1.0"/>
</material>
</visual>
<collision>
<origin xyz="0.037000000000001823097 -3.2612801348363973375e-15 -0.0069999999999977927101" rpy="3.1415926535897300553 5.7010285109476116487e-14 1.5707963267947127051" />
<geometry>
<mesh filename="package://hephaestus_description/meshes/m3_25mm.stl"/>
</geometry>
</collision>
<visual>
<origin xyz="-0.037000000000002079836 4.593547764386585186e-15 -0.0070000000000038434256" rpy="3.1415926535897300553 5.7010285109476116487e-14 1.5707963267947127051" />
<geometry>
<mesh filename="package://hephaestus_description/meshes/m3_25mm.stl"/>
</geometry>
<material name="m3_25mm_material">
<color rgba="0.90196078431372550543 0.90196078431372550543 0.90196078431372550543 1.0"/>
</material>
</visual>
<collision>
<origin xyz="-0.037000000000002079836 4.593547764386585186e-15 -0.0070000000000038434256" rpy="3.1415926535897300553 5.7010285109476116487e-14 1.5707963267947127051" />
<geometry>
<mesh filename="package://hephaestus_description/meshes/m3_25mm.stl"/>
</geometry>
</collision>
<visual>
<origin xyz="0.012000000000006319847 0.040025000000008789658 -0.049000000000003735012" rpy="-1.5707963267950575403 -1.5707963267948445996 0" />
<geometry>
<mesh filename="package://hephaestus_description/meshes/m4_8mm.stl"/>
</geometry>
<material name="m4_8mm_material">
<color rgba="0.90196078431372550543 0.90196078431372550543 0.90196078431372550543 1.0"/>
</material>
</visual>
<collision>
<origin xyz="0.012000000000006319847 0.040025000000008789658 -0.049000000000003735012" rpy="-1.5707963267950575403 -1.5707963267948445996 0" />
<geometry>
<mesh filename="package://hephaestus_description/meshes/m4_8mm.stl"/>
</geometry>
</collision>
<visual>
<origin xyz="0.018500000000038860359 0.24695706006001824639 -0.0069999999999935877404" rpy="3.1415926535897304994 5.6939008643900087402e-14 1.570796326794712483" />
<geometry>
<mesh filename="package://hephaestus_description/meshes/m3_25mm.stl"/>
</geometry>
<material name="m3_25mm_material">
<color rgba="0.90196078431372550543 0.90196078431372550543 0.90196078431372550543 1.0"/>
</material>
</visual>
<collision>
<origin xyz="0.018500000000038860359 0.24695706006001824639 -0.0069999999999935877404" rpy="3.1415926535897304994 5.6939008643900087402e-14 1.570796326794712483" />
<geometry>
<mesh filename="package://hephaestus_description/meshes/m3_25mm.stl"/>
</geometry>
</collision>
<visual>
<origin xyz="0.0060000000000354422602 0.22900000000004097633 -0.011999999999995375477" rpy="-1.5707963267950570962 -1.5707963267948443775 0" />
<geometry>
<mesh filename="package://hephaestus_description/meshes/m3_6mm.stl"/>
</geometry>
<material name="m3_6mm_material">
<color rgba="0.90196078431372550543 0.90196078431372550543 0.90196078431372550543 1.0"/>
</material>
</visual>
<collision>
<origin xyz="0.0060000000000354422602 0.22900000000004097633 -0.011999999999995375477" rpy="-1.5707963267950570962 -1.5707963267948443775 0" />
<geometry>
<mesh filename="package://hephaestus_description/meshes/m3_6mm.stl"/>
</geometry>
</collision>
<visual>
<origin xyz="4.2019131745180249755e-14 0.2790000000000539826 -0.069999999999999784617" rpy="7.8825834748387281884e-15 1.3234628252857624897e-13 -1.5707963267950328934" />
<geometry>
<mesh filename="package://hephaestus_description/meshes/base.stl"/>
</geometry>
<material name="base_material">
<color rgba="0 0 0 1.0"/>
</material>
</visual>
<collision>
<origin xyz="4.2019131745180249755e-14 0.2790000000000539826 -0.069999999999999784617" rpy="7.8825834748387281884e-15 1.3234628252857624897e-13 -1.5707963267950328934" />
<geometry>
<mesh filename="package://hephaestus_description/meshes/base.stl"/>
</geometry>
</collision>
<visual>
<origin xyz="4.2973812524054909521e-14 0.2790000000000495417 0.0030000000000064072636" rpy="3.141592653589793116 4.4408920985006217244e-16 -5.5511151231244071259e-17" />
<geometry>
<mesh filename="package://hephaestus_description/meshes/flange.stl"/>
</geometry>
<material name="flange_material">
<color rgba="0.90196078431372550543 0.90196078431372550543 0.90196078431372550543 1.0"/>
</material>
</visual>
<collision>
<origin xyz="4.2973812524054909521e-14 0.2790000000000495417 0.0030000000000064072636" rpy="3.141592653589793116 4.4408920985006217244e-16 -5.5511151231244071259e-17" />
<geometry>
<mesh filename="package://hephaestus_description/meshes/flange.stl"/>
</geometry>
</collision>
<visual>
<origin xyz="4.2740471399854407668e-14 0.27900000000005042988 -0.012999999999994987787" rpy="-4.807265696626941704e-14 -1.3617329402965800403e-13 1.5707963267947064878" />
<geometry>
<mesh filename="package://hephaestus_description/meshes/me8010e17b50_bracket_asm_1.stl"/>
</geometry>
<material name="me8010e17b50_bracket_asm_1_material">
<color rgba="0.90196078431372550543 0.90196078431372550543 0.90196078431372550543 1.0"/>
</material>
</visual>
<collision>
<origin xyz="4.2740471399854407668e-14 0.27900000000005042988 -0.012999999999994987787" rpy="-4.807265696626941704e-14 -1.3617329402965800403e-13 1.5707963267947064878" />
<geometry>
<mesh filename="package://hephaestus_description/meshes/me8010e17b50_bracket_asm_1.stl"/>
</geometry>
</collision>
<visual>
<origin xyz="4.2468966359182453924e-14 0.27900000000005142908 -0.028999999999996542432" rpy="3.1415926535897398253 5.7853620717353610505e-14 1.570796326794712261" />
<geometry>
<mesh filename="package://hephaestus_description/meshes/me8010e17b50_bracket_asm_3.stl"/>
</geometry>
<material name="me8010e17b50_bracket_asm_3_material">
<color rgba="0.90196078431372550543 0.90196078431372550543 0.90196078431372550543 1.0"/>
</material>
</visual>
<collision>
<origin xyz="4.2468966359182453924e-14 0.27900000000005142908 -0.028999999999996542432" rpy="3.1415926535897398253 5.7853620717353610505e-14 1.570796326794712261" />
<geometry>
<mesh filename="package://hephaestus_description/meshes/me8010e17b50_bracket_asm_3.stl"/>
</geometry>
</collision>
<visual>
<origin xyz="-9.7029329015842775849e-16 4.7878367936959875806e-15 -0.070000000000006140644" rpy="7.5495165674511875372e-15 1.3254670912496925565e-13 -1.5707963267950324493" />
<geometry>
<mesh filename="package://hephaestus_description/meshes/base.stl"/>
</geometry>
<material name="base_material">
<color rgba="0 0 0 1.0"/>
</material>
</visual>
<collision>
<origin xyz="-9.7029329015842775849e-16 4.7878367936959875806e-15 -0.070000000000006140644" rpy="7.5495165674511875372e-15 1.3254670912496925565e-13 -1.5707963267950324493" />
<geometry>
<mesh filename="package://hephaestus_description/meshes/base.stl"/>
</geometry>
</collision>
<visual>
<origin xyz="1.8488927466117464189e-32 0 0.0029999999999999957256" rpy="-3.141592653589793116 -3.0892526523193908693e-31 1.0529537655545236493e-33" />
<geometry>
<mesh filename="package://hephaestus_description/meshes/flange.stl"/>
</geometry>
<material name="flange_material">
<color rgba="0.90196078431372550543 0.90196078431372550543 0.90196078431372550543 1.0"/>
</material>
</visual>
<collision>
<origin xyz="1.8488927466117464189e-32 0 0.0029999999999999957256" rpy="-3.141592653589793116 -3.0892526523193908693e-31 1.0529537655545236493e-33" />
<geometry>
<mesh filename="package://hephaestus_description/meshes/flange.stl"/>
</geometry>
</collision>
<visual>
<origin xyz="-2.0732027206081905546e-16 1.0963452368173420837e-15 -0.013000000000001343814" rpy="7.7160500211449578628e-15 1.3322921617288480574e-13 -1.5707963267950328934" />
<geometry>
<mesh filename="package://hephaestus_description/meshes/me8010e17b50_bracket_asm_1.stl"/>
</geometry>
<material name="me8010e17b50_bracket_asm_1_material">
<color rgba="0.90196078431372550543 0.90196078431372550543 0.90196078431372550543 1.0"/>
</material>
</visual>
<collision>
<origin xyz="-2.0732027206081905546e-16 1.0963452368173420837e-15 -0.013000000000001343814" rpy="7.7160500211449578628e-15 1.3322921617288480574e-13 -1.5707963267950328934" />
<geometry>
<mesh filename="package://hephaestus_description/meshes/me8010e17b50_bracket_asm_1.stl"/>
</geometry>
</collision>
<visual>
<origin xyz="-4.1290582064566569186e-16 2.1233015345956118836e-15 -0.029000000000002787437" rpy="-3.1415926535897846783 1.3334699468924108205e-13 -1.5707963267950324493" />
<geometry>
<mesh filename="package://hephaestus_description/meshes/me8010e17b50_bracket_asm_3.stl"/>
</geometry>
<material name="me8010e17b50_bracket_asm_3_material">
<color rgba="0.90196078431372550543 0.90196078431372550543 0.90196078431372550543 1.0"/>
</material>
</visual>
<collision>
<origin xyz="-4.1290582064566569186e-16 2.1233015345956118836e-15 -0.029000000000002787437" rpy="-3.1415926535897846783 1.3334699468924108205e-13 -1.5707963267950324493" />
<geometry>
<mesh filename="package://hephaestus_description/meshes/me8010e17b50_bracket_asm_3.stl"/>
</geometry>
</collision>
<inertial>
<origin xyz="2.056852602075489383e-14 0.13905499163507623051 -0.036243742585867037842" rpy="0 0 0"/>
<mass value="2.548743890879638041" />
<inertia ixx="0.044157339046548976791" ixy="-8.2966765744680158281e-10"  ixz="-2.0564427998213750771e-17" iyy="0.001941569732532353763" iyz="-1.4468304719733333913e-05" izz="0.044276484530402469841" />
</inertial>
</link>

<link name="link4">
<visual>
<origin xyz="0.0059999999999990694458 0.032000000000000583533 -0.031607695154591469722" rpy="-1.5707963267949309749 1.5707963267948308328 0" />
<geometry>
<mesh filename="package://hephaestus_description/meshes/m4_14mm.stl"/>
</geometry>
<material name="m4_14mm_material">
<color rgba="0.90196078431372550543 0.90196078431372550543 0.90196078431372550543 1.0"/>
</material>
</visual>
<collision>
<origin xyz="0.0059999999999990694458 0.032000000000000583533 -0.031607695154591469722" rpy="-1.5707963267949309749 1.5707963267948308328 0" />
<geometry>
<mesh filename="package://hephaestus_description/meshes/m4_14mm.stl"/>
</geometry>
</collision>
<visual>
<origin xyz="0.011874999999990434874 0.29956810333989997153 -0.01400000000001980216" rpy="-3.1415926535897753524 -1.6409096303959833862e-13 -1.5707963267948563679" />
<geometry>
<mesh filename="package://hephaestus_description/meshes/m3_6mm.stl"/>
</geometry>
<material name="m3_6mm_material">
<color rgba="0.90196078431372550543 0.90196078431372550543 0.90196078431372550543 1.0"/>
</material>
</visual>
<collision>
<origin xyz="0.011874999999990434874 0.29956810333989997153 -0.01400000000001980216" rpy="-3.1415926535897753524 -1.6409096303959833862e-13 -1.5707963267948563679" />
<geometry>
<mesh filename="package://hephaestus_description/meshes/m3_6mm.stl"/>
</geometry>
</collision>
<visual>
<origin xyz="0.0044999999999985581048 0.044000000000002592593 -0.01350000000000353001" rpy="1.5707963267949309749 -1.5707963267948308328 0" />
<geometry>
<mesh filename="package://hephaestus_description/meshes/m3_8mm.stl"/>
</geometry>
<material name="m3_8mm_material">
<color rgba="0.90196078431372550543 0.90196078431372550543 0.90196078431372550543 1.0"/>
</material>
</visual>
<collision>
<origin xyz="0.0044999999999985581048 0.044000000000002592593 -0.01350000000000353001" rpy="1.5707963267949309749 -1.5707963267948308328 0" />
<geometry>
<mesh filename="package://hephaestus_description/meshes/m3_8mm.stl"/>
</geometry>
</collision>
<visual>
<origin xyz="-0.0218434588481226169 -0.015870201811898687616 -0.0089999999999996818656" rpy="-7.1054273576017007895e-15 -3.4638958368304751533e-14 1.5707963267949245356" />
<geometry>
<mesh filename="package://hephaestus_description/meshes/m3_22mm.stl"/>
</geometry>
<material name="m3_22mm_material">
<color rgba="0.90196078431372550543 0.90196078431372550543 0.90196078431372550543 1.0"/>
</material>
</visual>
<collision>
<origin xyz="-0.0218434588481226169 -0.015870201811898687616 -0.0089999999999996818656" rpy="-7.1054273576017007895e-15 -3.4638958368304751533e-14 1.5707963267949245356" />
<geometry>
<mesh filename="package://hephaestus_description/meshes/m3_22mm.stl"/>
</geometry>
</collision>
<visual>
<origin xyz="-0.0045000000000012018234 0.044000000000002315037 -0.013500000000003696543" rpy="1.5707963267949309749 -1.5707963267948308328 0" />
<geometry>
<mesh filename="package://hephaestus_description/meshes/m3_8mm.stl"/>
</geometry>
<material name="m3_8mm_material">
<color rgba="0.90196078431372550543 0.90196078431372550543 0.90196078431372550543 1.0"/>
</material>
</visual>
<collision>
<origin xyz="-0.0045000000000012018234 0.044000000000002315037 -0.013500000000003696543" rpy="1.5707963267949309749 -1.5707963267948308328 0" />
<geometry>
<mesh filename="package://hephaestus_description/meshes/m3_8mm.stl"/>
</geometry>
</collision>
<visual>
<origin xyz="-0.0045000000000012261095 0.044000000000002814637 -0.0045000000000026962876" rpy="1.5707963267949309749 -1.5707963267948308328 0" />
<geometry>
<mesh filename="package://hephaestus_description/meshes/m3_8mm.stl"/>
</geometry>
<material name="m3_8mm_material">
<color rgba="0.90196078431372550543 0.90196078431372550543 0.90196078431372550543 1.0"/>
</material>
</visual>
<collision>
<origin xyz="-0.0045000000000012261095 0.044000000000002814637 -0.0045000000000026962876" rpy="1.5707963267949309749 -1.5707963267948308328 0" />
<geometry>
<mesh filename="package://hephaestus_description/meshes/m3_8mm.stl"/>
</geometry>
</collision>
<visual>
<origin xyz="0.01399999999999865935 0.038000000000000921929 -1.5404344466674046998e-15" rpy="-3.1415926535897802374 -6.4274194148478897212e-14 -1.5707963267948632513" />
<geometry>
<mesh filename="package://hephaestus_description/meshes/m3_20mm.stl"/>
</geometry>
<material name="m3_20mm_material">
<color rgba="0.90196078431372550543 0.90196078431372550543 0.90196078431372550543 1.0"/>
</material>
</visual>
<collision>
<origin xyz="0.01399999999999865935 0.038000000000000921929 -1.5404344466674046998e-15" rpy="-3.1415926535897802374 -6.4274194148478897212e-14 -1.5707963267948632513" />
<geometry>
<mesh filename="package://hephaestus_description/meshes/m3_20mm.stl"/>
</geometry>
</collision>
<visual>
<origin xyz="-0.008343458848122651747 -0.025678525939971330594 -0.0089999999999987867483" rpy="-7.1609385088329538833e-15 -3.5305092183079845457e-14 1.5707963267949245356" />
<geometry>
<mesh filename="package://hephaestus_description/meshes/m3_22mm.stl"/>
</geometry>
<material name="m3_22mm_material">
<color rgba="0.90196078431372550543 0.90196078431372550543 0.90196078431372550543 1.0"/>
</material>
</visual>
<collision>
<origin xyz="-0.008343458848122651747 -0.025678525939971330594 -0.0089999999999987867483" rpy="-7.1609385088329538833e-15 -3.5305092183079845457e-14 1.5707963267949245356" />
<geometry>
<mesh filename="package://hephaestus_description/meshes/m3_22mm.stl"/>
</geometry>
</collision>
<visual>
<origin xyz="0.0083434588481225979706 0.025678525939970608949 -0.0090000000000017843504" rpy="-7.1054273576017007895e-15 -3.4638958368304751533e-14 1.5707963267949245356" />
<geometry>
<mesh filename="package://hephaestus_description/meshes/m3_22mm.stl"/>
</geometry>
<material name="m3_22mm_material">
<color rgba="0.90196078431372550543 0.90196078431372550543 0.90196078431372550543 1.0"/>
</material>
</visual>
<collision>
<origin xyz="0.0083434588481225979706 0.025678525939970608949 -0.0090000000000017843504" rpy="-7.1054273576017007895e-15 -3.4638958368304751533e-14 1.5707963267949245356" />
<geometry>
<mesh filename="package://hephaestus_description/meshes/m3_22mm.stl"/>
</geometry>
</collision>
<visual>
<origin xyz="0.025678525939968398911 0.0083434588481243743274 -0.0090000000000003549383" rpy="-7.1054273576017007895e-15 -3.4638958368304751533e-14 1.5707963267949245356" />
<geometry>
<mesh filename="package://hephaestus_description/meshes/m3_22mm.stl"/>
</geometry>
<material name="m3_22mm_material">
<color rgba="0.90196078431372550543 0.90196078431372550543 0.90196078431372550543 1.0"/>
</material>
</visual>
<collision>
<origin xyz="0.025678525939968398911 0.0083434588481243743274 -0.0090000000000003549383" rpy="-7.1054273576017007895e-15 -3.4638958368304751533e-14 1.5707963267949245356" />
<geometry>
<mesh filename="package://hephaestus_description/meshes/m3_22mm.stl"/>
</geometry>
</collision>
<visual>
<origin xyz="0.023749999999990892979 0.27900000000001806688 -0.014000000000018185398" rpy="-3.1415926535897753524 -1.6409096303959833862e-13 -1.5707963267948563679" />
<geometry>
<mesh filename="package://hephaestus_description/meshes/m3_6mm.stl"/>
</geometry>
<material name="m3_6mm_material">
<color rgba="0.90196078431372550543 0.90196078431372550543 0.90196078431372550543 1.0"/>
</material>
</visual>
<collision>
<origin xyz="0.023749999999990892979 0.27900000000001806688 -0.014000000000018185398" rpy="-3.1415926535897753524 -1.6409096303959833862e-13 -1.5707963267948563679" />
<geometry>
<mesh filename="package://hephaestus_description/meshes/m3_6mm.stl"/>
</geometry>
</collision>
<visual>
<origin xyz="-0.012000000000000506789 0.03199999999999947331 -0.042000000000006150469" rpy="-1.5707963267949309749 1.5707963267948308328 0" />
<geometry>
<mesh filename="package://hephaestus_description/meshes/m4_14mm.stl"/>
</geometry>
<material name="m4_14mm_material">
<color rgba="0.90196078431372550543 0.90196078431372550543 0.90196078431372550543 1.0"/>
</material>
</visual>
<collision>
<origin xyz="-0.012000000000000506789 0.03199999999999947331 -0.042000000000006150469" rpy="-1.5707963267949309749 1.5707963267948308328 0" />
<geometry>
<mesh filename="package://hephaestus_description/meshes/m4_14mm.stl"/>
</geometry>
</collision>
<visual>
<origin xyz="0.005999999999999228173 0.031999999999999306777 -0.052392304845420248349" rpy="-1.5707963267949309749 1.5707963267948308328 0" />
<geometry>
<mesh filename="package://hephaestus_description/meshes/m4_14mm.stl"/>
</geometry>
<material name="m4_14mm_material">
<color rgba="0.90196078431372550543 0.90196078431372550543 0.90196078431372550543 1.0"/>
</material>
</visual>
<collision>
<origin xyz="0.005999999999999228173 0.031999999999999306777 -0.052392304845420248349" rpy="-1.5707963267949309749 1.5707963267948308328 0" />
<geometry>
<mesh filename="package://hephaestus_description/meshes/m4_14mm.stl"/>
</geometry>
</collision>
<visual>
<origin xyz="0.021843458848122627308 0.01587020181189791046 -0.0090000000000008822942" rpy="-7.1054273576017007895e-15 -3.4638958368304751533e-14 1.5707963267949245356" />
<geometry>
<mesh filename="package://hephaestus_description/meshes/m3_22mm.stl"/>
</geometry>
<material name="m3_22mm_material">
<color rgba="0.90196078431372550543 0.90196078431372550543 0.90196078431372550543 1.0"/>
</material>
</visual>
<collision>
<origin xyz="0.021843458848122627308 0.01587020181189791046 -0.0090000000000008822942" rpy="-7.1054273576017007895e-15 -3.4638958368304751533e-14 1.5707963267949245356" />
<geometry>
<mesh filename="package://hephaestus_description/meshes/m3_22mm.stl"/>
</geometry>
</collision>
<visual>
<origin xyz="-8.6726957400168814987e-15 0.27900000000001728973 -0.020000000000019377278" rpy="-1.6653345369373960935e-16 4.4408920985008904301e-16 -3.1415926535897922278" />
<geometry>
<mesh filename="package://hephaestus_description/meshes/mg4036i36_bracket.stl"/>
</geometry>
<material name="mg4036i36_bracket_material">
<color rgba="0.90196078431372550543 0.90196078431372550543 0.90196078431372550543 1.0"/>
</material>
</visual>
<collision>
<origin xyz="-8.6726957400168814987e-15 0.27900000000001728973 -0.020000000000019377278" rpy="-1.6653345369373960935e-16 4.4408920985008904301e-16 -3.1415926535897922278" />
<geometry>
<mesh filename="package://hephaestus_description/meshes/mg4036i36_bracket.stl"/>
</geometry>
</collision>
<visual>
<origin xyz="-0.0060000000000007096268 0.032000000000000361489 -0.031607695154591643194" rpy="-1.5707963267949309749 1.5707963267948308328 0" />
<geometry>
<mesh filename="package://hephaestus_description/meshes/m4_14mm.stl"/>
</geometry>
<material name="m4_14mm_material">
<color rgba="0.90196078431372550543 0.90196078431372550543 0.90196078431372550543 1.0"/>
</material>
</visual>
<collision>
<origin xyz="-0.0060000000000007096268 0.032000000000000361489 -0.031607695154591643194" rpy="-1.5707963267949309749 1.5707963267948308328 0" />
<geometry>
<mesh filename="package://hephaestus_description/meshes/m4_14mm.stl"/>
</geometry>
</collision>
<visual>
<origin xyz="-0.025678525939968863817 0.0083434588481230975709 -0.009000000000001354139" rpy="-7.1054273576016929009e-15 -3.5305092183079845457e-14 1.5707963267949245356" />
<geometry>
<mesh filename="package://hephaestus_description/meshes/m3_22mm.stl"/>
</geometry>
<material name="m3_22mm_material">
<color rgba="0.90196078431372550543 0.90196078431372550543 0.90196078431372550543 1.0"/>
</material>
</visual>
<collision>
<origin xyz="-0.025678525939968863817 0.0083434588481230975709 -0.009000000000001354139" rpy="-7.1054273576016929009e-15 -3.5305092183079845457e-14 1.5707963267949245356" />
<geometry>
<mesh filename="package://hephaestus_description/meshes/m3_22mm.stl"/>
</geometry>
</collision>
<visual>
<origin xyz="0.0044999999999985502985 0.044000000000003036682 -0.0045000000000025297542" rpy="1.5707963267949309749 -1.5707963267948308328 0" />
<geometry>
<mesh filename="package://hephaestus_description/meshes/m3_8mm.stl"/>
</geometry>
<material name="m3_8mm_material">
<color rgba="0.90196078431372550543 0.90196078431372550543 0.90196078431372550543 1.0"/>
</material>
</visual>
<collision>
<origin xyz="0.0044999999999985502985 0.044000000000003036682 -0.0045000000000025297542" rpy="1.5707963267949309749 -1.5707963267948308328 0" />
<geometry>
<mesh filename="package://hephaestus_description/meshes/m3_8mm.stl"/>
</geometry>
</collision>
<visual>
<origin xyz="0.025678525939968891573 -0.0083434588481238747271 -0.008999999999999265532" rpy="-7.1054273576017007895e-15 -3.4638958368304751533e-14 1.5707963267949245356" />
<geometry>
<mesh filename="package://hephaestus_description/meshes/m3_22mm.stl"/>
</geometry>
<material name="m3_22mm_material">
<color rgba="0.90196078431372550543 0.90196078431372550543 0.90196078431372550543 1.0"/>
</material>
</visual>
<collision>
<origin xyz="0.025678525939968891573 -0.0083434588481238747271 -0.008999999999999265532" rpy="-7.1054273576017007895e-15 -3.4638958368304751533e-14 1.5707963267949245356" />
<geometry>
<mesh filename="package://hephaestus_description/meshes/m3_22mm.stl"/>
</geometry>
</collision>
<visual>
<origin xyz="-0.014000000000001346437 0.03799999999999997824 -1.9151347174783950322e-15" rpy="-3.1415926535897802374 -6.4274194148478909834e-14 -1.5707963267948632513" />
<geometry>
<mesh filename="package://hephaestus_description/meshes/m3_20mm.stl"/>
</geometry>
<material name="m3_20mm_material">
<color rgba="0.90196078431372550543 0.90196078431372550543 0.90196078431372550543 1.0"/>
</material>
</visual>
<collision>
<origin xyz="-0.014000000000001346437 0.03799999999999997824 -1.9151347174783950322e-15" rpy="-3.1415926535897802374 -6.4274194148478909834e-14 -1.5707963267948632513" />
<geometry>
<mesh filename="package://hephaestus_description/meshes/m3_20mm.stl"/>
</geometry>
</collision>
<visual>
<origin xyz="0.011999999999999101663 0.032000000000000083933 -0.042000000000005741074" rpy="-1.5707963267949309749 1.5707963267948308328 0" />
<geometry>
<mesh filename="package://hephaestus_description/meshes/m4_14mm.stl"/>
</geometry>
<material name="m4_14mm_material">
<color rgba="0.90196078431372550543 0.90196078431372550543 0.90196078431372550543 1.0"/>
</material>
</visual>
<collision>
<origin xyz="0.011999999999999101663 0.032000000000000083933 -0.042000000000005741074" rpy="-1.5707963267949309749 1.5707963267948308328 0" />
<geometry>
<mesh filename="package://hephaestus_description/meshes/m4_14mm.stl"/>
</geometry>
</collision>
<visual>
<origin xyz="0.01039230484540541212 0.25250000000001454614 -0.036000000000019238833" rpy="1.5707963267949309749 -1.5707963267948308328 0" />
<geometry>
<mesh filename="package://hephaestus_description/meshes/m4_8mm.stl"/>
</geometry>
<material name="m4_8mm_material">
<color rgba="0.90196078431372550543 0.90196078431372550543 0.90196078431372550543 1.0"/>
</material>
</visual>
<collision>
<origin xyz="0.01039230484540541212 0.25250000000001454614 -0.036000000000019238833" rpy="1.5707963267949309749 -1.5707963267948308328 0" />
<geometry>
<mesh filename="package://hephaestus_description/meshes/m4_8mm.stl"/>
</geometry>
</collision>
<visual>
<origin xyz="-0.015870201811897143712 0.021843458848124275296 -0.0090000000000020202728" rpy="-7.1054273576017007895e-15 -3.4638958368304751533e-14 1.5707963267949245356" />
<geometry>
<mesh filename="package://hephaestus_description/meshes/m3_22mm.stl"/>
</geometry>
<material name="m3_22mm_material">
<color rgba="0.90196078431372550543 0.90196078431372550543 0.90196078431372550543 1.0"/>
</material>
</visual>
<collision>
<origin xyz="-0.015870201811897143712 0.021843458848124275296 -0.0090000000000020202728" rpy="-7.1054273576017007895e-15 -3.4638958368304751533e-14 1.5707963267949245356" />
<geometry>
<mesh filename="package://hephaestus_description/meshes/m3_22mm.stl"/>
</geometry>
</collision>
<visual>
<origin xyz="-0.01187500000000911958 0.29956810333989941642 -0.014000000000020204616" rpy="-3.1415926535897753524 -1.6409096303959833862e-13 -1.5707963267948563679" />
<geometry>
<mesh filename="package://hephaestus_description/meshes/m3_6mm.stl"/>
</geometry>
<material name="m3_6mm_material">
<color rgba="0.90196078431372550543 0.90196078431372550543 0.90196078431372550543 1.0"/>
</material>
</visual>
<collision>
<origin xyz="-0.01187500000000911958 0.29956810333989941642 -0.014000000000020204616" rpy="-3.1415926535897753524 -1.6409096303959833862e-13 -1.5707963267948563679" />
<geometry>
<mesh filename="package://hephaestus_description/meshes/m3_6mm.stl"/>
</geometry>
</collision>
<visual>
<origin xyz="-7.5696833774429134442e-15 0.2525000000000133249 -0.054000000000021405877" rpy="1.5707963267949309749 -1.5707963267948308328 0" />
<geometry>
<mesh filename="package://hephaestus_description/meshes/m4_8mm.stl"/>
</geometry>
<material name="m4_8mm_material">
<color rgba="0.90196078431372550543 0.90196078431372550543 0.90196078431372550543 1.0"/>
</material>
</visual>
<collision>
<origin xyz="-7.5696833774429134442e-15 0.2525000000000133249 -0.054000000000021405877" rpy="1.5707963267949309749 -1.5707963267948308328 0" />
<geometry>
<mesh filename="package://hephaestus_description/meshes/m4_8mm.stl"/>
</geometry>
</collision>
<visual>
<origin xyz="-0.011875000000007806394 0.25843189666013571815 -0.014000000000017526203" rpy="-3.1415926535897753524 -1.6409096303959833862e-13 -1.5707963267948563679" />
<geometry>
<mesh filename="package://hephaestus_description/meshes/m3_6mm.stl"/>
</geometry>
<material name="m3_6mm_material">
<color rgba="0.90196078431372550543 0.90196078431372550543 0.90196078431372550543 1.0"/>
</material>
</visual>
<collision>
<origin xyz="-0.011875000000007806394 0.25843189666013571815 -0.014000000000017526203" rpy="-3.1415926535897753524 -1.6409096303959833862e-13 -1.5707963267948563679" />
<geometry>
<mesh filename="package://hephaestus_description/meshes/m3_6mm.stl"/>
</geometry>
</collision>
<visual>
<origin xyz="0.015870201811895801036 0.021843458848125107963 -0.0090000000000014096502" rpy="-7.4940054162204913791e-15 -3.3528735343679550816e-14 1.5707963267949245356" />
<geometry>
<mesh filename="package://hephaestus_description/meshes/m3_22mm.stl"/>
</geometry>
<material name="m3_22mm_material">
<color rgba="0.90196078431372550543 0.90196078431372550543 0.90196078431372550543 1.0"/>
</material>
</visual>
<collision>
<origin xyz="0.015870201811895801036 0.021843458848125107963 -0.0090000000000014096502" rpy="-7.4940054162204913791e-15 -3.3528735343679550816e-14 1.5707963267949245356" />
<geometry>
<mesh filename="package://hephaestus_description/meshes/m3_22mm.stl"/>
</geometry>
</collision>
<visual>
<origin xyz="0.0083434588481241921815 -0.025678525939970942016 -0.0089999999999985230703" rpy="-7.1054273576016929009e-15 -3.5305092183079845457e-14 1.5707963267949245356" />
<geometry>
<mesh filename="package://hephaestus_description/meshes/m3_22mm.stl"/>
</geometry>
<material name="m3_22mm_material">
<color rgba="0.90196078431372550543 0.90196078431372550543 0.90196078431372550543 1.0"/>
</material>
</visual>
<collision>
<origin xyz="0.0083434588481241921815 -0.025678525939970942016 -0.0089999999999985230703" rpy="-7.1054273576016929009e-15 -3.5305092183079845457e-14 1.5707963267949245356" />
<geometry>
<mesh filename="package://hephaestus_description/meshes/m3_22mm.stl"/>
</geometry>
</collision>
<visual>
<origin xyz="-0.010392304845420738402 0.25250000000001410205 -0.036000000000019627411" rpy="1.570796326794931197 -1.5707963267948308328 0" />
<geometry>
<mesh filename="package://hephaestus_description/meshes/m4_8mm.stl"/>
</geometry>
<material name="m4_8mm_material">
<color rgba="0.90196078431372550543 0.90196078431372550543 0.90196078431372550543 1.0"/>
</material>
</visual>
<collision>
<origin xyz="-0.010392304845420738402 0.25250000000001410205 -0.036000000000019627411" rpy="1.570796326794931197 -1.5707963267948308328 0" />
<geometry>
<mesh filename="package://hephaestus_description/meshes/m4_8mm.stl"/>
</geometry>
</collision>
<visual>
<origin xyz="-0.0060000000000005474302 0.03199999999999897371 -0.052392304845420484272" rpy="-1.5707963267949309749 1.5707963267948308328 0" />
<geometry>
<mesh filename="package://hephaestus_description/meshes/m4_14mm.stl"/>
</geometry>
<material name="m4_14mm_material">
<color rgba="0.90196078431372550543 0.90196078431372550543 0.90196078431372550543 1.0"/>
</material>
</visual>
<collision>
<origin xyz="-0.0060000000000005474302 0.03199999999999897371 -0.052392304845420484272" rpy="-1.5707963267949309749 1.5707963267948308328 0" />
<geometry>
<mesh filename="package://hephaestus_description/meshes/m4_14mm.stl"/>
</geometry>
</collision>
<visual>
<origin xyz="0.021843458848123650795 -0.015870201811897632904 -0.0089999999999988908317" rpy="-7.1054273576017007895e-15 -3.4638958368304751533e-14 1.5707963267949245356" />
<geometry>
<mesh filename="package://hephaestus_description/meshes/m3_22mm.stl"/>
</geometry>
<material name="m3_22mm_material">
<color rgba="0.90196078431372550543 0.90196078431372550543 0.90196078431372550543 1.0"/>
</material>
</visual>
<collision>
<origin xyz="0.021843458848123650795 -0.015870201811897632904 -0.0089999999999988908317" rpy="-7.1054273576017007895e-15 -3.4638958368304751533e-14 1.5707963267949245356" />
<geometry>
<mesh filename="package://hephaestus_description/meshes/m3_22mm.stl"/>
</geometry>
</collision>
<visual>
<origin xyz="-0.023750000000008195111 0.27900000000001673461 -0.014000000000019059698" rpy="-3.1415926535897753524 -1.6453505224944835075e-13 -1.5707963267948563679" />
<geometry>
<mesh filename="package://hephaestus_description/meshes/m3_6mm.stl"/>
</geometry>
<material name="m3_6mm_material">
<color rgba="0.90196078431372550543 0.90196078431372550543 0.90196078431372550543 1.0"/>
</material>
</visual>
<collision>
<origin xyz="-0.023750000000008195111 0.27900000000001673461 -0.014000000000019059698" rpy="-3.1415926535897753524 -1.6453505224944835075e-13 -1.5707963267948563679" />
<geometry>
<mesh filename="package://hephaestus_description/meshes/m3_6mm.stl"/>
</geometry>
</collision>
<visual>
<origin xyz="-0.025678525939968374625 -0.0083434588481250959724 -0.0090000000000002647327" rpy="-7.1054273576017007895e-15 -3.4638958368304751533e-14 1.5707963267949245356" />
<geometry>
<mesh filename="package://hephaestus_description/meshes/m3_22mm.stl"/>
</geometry>
<material name="m3_22mm_material">
<color rgba="0.90196078431372550543 0.90196078431372550543 0.90196078431372550543 1.0"/>
</material>
</visual>
<collision>
<origin xyz="-0.025678525939968374625 -0.0083434588481250959724 -0.0090000000000002647327" rpy="-7.1054273576017007895e-15 -3.4638958368304751533e-14 1.5707963267949245356" />
<geometry>
<mesh filename="package://hephaestus_description/meshes/m3_22mm.stl"/>
</geometry>
</collision>
<visual>
<origin xyz="-1.1281991325501141933e-15 0.044000000000000427658 -0.042000000000006733336" rpy="-1.5707963267949309749 1.5707963267948308328 0" />
<geometry>
<mesh filename="package://hephaestus_description/meshes/aluminum_tube_11_32_200_5.stl"/>
</geometry>
<material name="aluminum_tube_11_32_200_5_material">
<color rgba="0.90196078431372550543 0.90196078431372550543 0.90196078431372550543 1.0"/>
</material>
</visual>
<collision>
<origin xyz="-1.1281991325501141933e-15 0.044000000000000427658 -0.042000000000006733336" rpy="-1.5707963267949309749 1.5707963267948308328 0" />
<geometry>
<mesh filename="package://hephaestus_description/meshes/aluminum_tube_11_32_200_5.stl"/>
</geometry>
</collision>
<visual>
<origin xyz="-0.021843458848123643856 0.015870201811896855748 -0.0090000000000016733281" rpy="-7.1054273576017007895e-15 -3.4638958368304751533e-14 1.5707963267949245356" />
<geometry>
<mesh filename="package://hephaestus_description/meshes/m3_22mm.stl"/>
</geometry>
<material name="m3_22mm_material">
<color rgba="0.90196078431372550543 0.90196078431372550543 0.90196078431372550543 1.0"/>
</material>
</visual>
<collision>
<origin xyz="-0.021843458848123643856 0.015870201811896855748 -0.0090000000000016733281" rpy="-7.1054273576017007895e-15 -3.4638958368304751533e-14 1.5707963267949245356" />
<geometry>
<mesh filename="package://hephaestus_description/meshes/m3_22mm.stl"/>
</geometry>
</collision>
<visual>
<origin xyz="0.011874999999991760202 0.25843189666013627326 -0.014000000000017123747" rpy="-3.1415926535897753524 -1.6409096303959833862e-13 -1.5707963267948563679" />
<geometry>
<mesh filename="package://hephaestus_description/meshes/m3_6mm.stl"/>
</geometry>
<material name="m3_6mm_material">
<color rgba="0.90196078431372550543 0.90196078431372550543 0.90196078431372550543 1.0"/>
</material>
</visual>
<collision>
<origin xyz="0.011874999999991760202 0.25843189666013627326 -0.014000000000017123747" rpy="-3.1415926535897753524 -1.6409096303959833862e-13 -1.5707963267948563679" />
<geometry>
<mesh filename="package://hephaestus_description/meshes/m3_6mm.stl"/>
</geometry>
</collision>
<visual>
<origin xyz="0.015870201811897098609 -0.021843458848124941429 -0.0089999999999985993981" rpy="-7.1054273576017007895e-15 -3.4638958368304751533e-14 1.5707963267949245356" />
<geometry>
<mesh filename="package://hephaestus_description/meshes/m3_22mm.stl"/>
</geometry>
<material name="m3_22mm_material">
<color rgba="0.90196078431372550543 0.90196078431372550543 0.90196078431372550543 1.0"/>
</material>
</visual>
<collision>
<origin xyz="0.015870201811897098609 -0.021843458848124941429 -0.0089999999999985993981" rpy="-7.1054273576017007895e-15 -3.4638958368304751533e-14 1.5707963267949245356" />
<geometry>
<mesh filename="package://hephaestus_description/meshes/m3_22mm.stl"/>
</geometry>
</collision>
<visual>
<origin xyz="-0.0083434588481241730995 0.025678525939970275882 -0.0090000000000021035396" rpy="-7.1054273576017007895e-15 -3.4638958368304751533e-14 1.5707963267949245356" />
<geometry>
<mesh filename="package://hephaestus_description/meshes/m3_22mm.stl"/>
</geometry>
<material name="m3_22mm_material">
<color rgba="0.90196078431372550543 0.90196078431372550543 0.90196078431372550543 1.0"/>
</material>
</visual>
<collision>
<origin xyz="-0.0083434588481241730995 0.025678525939970275882 -0.0090000000000021035396" rpy="-7.1054273576017007895e-15 -3.4638958368304751533e-14 1.5707963267949245356" />
<geometry>
<mesh filename="package://hephaestus_description/meshes/m3_22mm.stl"/>
</geometry>
</collision>
<visual>
<origin xyz="-0.0158702018118958392 -0.021843458848125663074 -0.0089999999999992100208" rpy="-7.1054273576017007895e-15 -3.4638958368304751533e-14 1.5707963267949245356" />
<geometry>
<mesh filename="package://hephaestus_description/meshes/m3_22mm.stl"/>
</geometry>
<material name="m3_22mm_material">
<color rgba="0.90196078431372550543 0.90196078431372550543 0.90196078431372550543 1.0"/>
</material>
</visual>
<collision>
<origin xyz="-0.0158702018118958392 -0.021843458848125663074 -0.0089999999999992100208" rpy="-7.1054273576017007895e-15 -3.4638958368304751533e-14 1.5707963267949245356" />
<geometry>
<mesh filename="package://hephaestus_description/meshes/m3_22mm.stl"/>
</geometry>
</collision>
<visual>
<origin xyz="-1.2621774483536188887e-29 0 -0.0060000000000000053291" rpy="-3.7825125665838021046e-31 -4.2756212370402158198e-31 1.661900821116980089e-31" />
<geometry>
<mesh filename="package://hephaestus_description/meshes/j3_converter_asm_1.stl"/>
</geometry>
<material name="j3_converter_asm_1_material">
<color rgba="0.90196078431372550543 0.90196078431372550543 0.90196078431372550543 1.0"/>
</material>
</visual>
<collision>
<origin xyz="-1.2621774483536188887e-29 0 -0.0060000000000000053291" rpy="-3.7825125665838021046e-31 -4.2756212370402158198e-31 1.661900821116980089e-31" />
<geometry>
<mesh filename="package://hephaestus_description/meshes/j3_converter_asm_1.stl"/>
</geometry>
</collision>
<visual>
<origin xyz="1.3343492977211403981e-16 -8.3266726846886740532e-16 -0.018000000000001341316" rpy="-3.1415926535897926719 -5.5511151231230691439e-17 -3.1415926535897922278" />
<geometry>
<mesh filename="package://hephaestus_description/meshes/j3_converter_asm_2.stl"/>
</geometry>
<material name="j3_converter_asm_2_material">
<color rgba="0.90196078431372550543 0.90196078431372550543 0.90196078431372550543 1.0"/>
</material>
</visual>
<collision>
<origin xyz="1.3343492977211403981e-16 -8.3266726846886740532e-16 -0.018000000000001341316" rpy="-3.1415926535897926719 -5.5511151231230691439e-17 -3.1415926535897922278" />
<geometry>
<mesh filename="package://hephaestus_description/meshes/j3_converter_asm_2.stl"/>
</geometry>
</collision>
<visual>
<origin xyz="-8.2425016652094786829e-15 0.27900000000001462519 -0.059000000000023672397" rpy="-1.5707963267948155117 1.0547118733947508804e-15 -3.1415926535897593652" />
<geometry>
<mesh filename="package://hephaestus_description/meshes/mg4036e-i36-1.stl"/>
</geometry>
<material name="mg4036e-i36-1_material">
<color rgba="0.90196078431372550543 0.90196078431372550543 0.90196078431372550543 1.0"/>
</material>
</visual>
<collision>
<origin xyz="-8.2425016652094786829e-15 0.27900000000001462519 -0.059000000000023672397" rpy="-1.5707963267948155117 1.0547118733947508804e-15 -3.1415926535897593652" />
<geometry>
<mesh filename="package://hephaestus_description/meshes/mg4036e-i36-1.stl"/>
</geometry>
</collision>
<visual>
<origin xyz="-8.2425016652094786829e-15 0.27900000000001462519 -0.059000000000023672397" rpy="-1.5707963267948155117 1.0547118733947508804e-15 -3.1415926535897593652" />
<geometry>
<mesh filename="package://hephaestus_description/meshes/mg4036e-i36-17.stl"/>
</geometry>
<material name="mg4036e-i36-17_material">
<color rgba="0 0 0 1.0"/>
</material>
</visual>
<collision>
<origin xyz="-8.2425016652094786829e-15 0.27900000000001462519 -0.059000000000023672397" rpy="-1.5707963267948155117 1.0547118733947508804e-15 -3.1415926535897593652" />
<geometry>
<mesh filename="package://hephaestus_description/meshes/mg4036e-i36-17.stl"/>
</geometry>
</collision>
<visual>
<origin xyz="-8.2425016652094786829e-15 0.27900000000001462519 -0.059000000000023672397" rpy="-1.5707963267948155117 1.0547118733947508804e-15 -3.1415926535897593652" />
<geometry>
<mesh filename="package://hephaestus_description/meshes/mg4036e-i36-20.stl"/>
</geometry>
<material name="mg4036e-i36-20_material">
<color rgba="0.90196078431372550543 0.90196078431372550543 0.90196078431372550543 1.0"/>
</material>
</visual>
<collision>
<origin xyz="-8.2425016652094786829e-15 0.27900000000001462519 -0.059000000000023672397" rpy="-1.5707963267948155117 1.0547118733947508804e-15 -3.1415926535897593652" />
<geometry>
<mesh filename="package://hephaestus_description/meshes/mg4036e-i36-20.stl"/>
</geometry>
</collision>
<visual>
<origin xyz="-8.2425016652094786829e-15 0.27900000000001462519 -0.059000000000023672397" rpy="-1.5707963267948155117 1.0547118733947508804e-15 -3.1415926535897593652" />
<geometry>
<mesh filename="package://hephaestus_description/meshes/mg4036e-i36-16.stl"/>
</geometry>
<material name="mg4036e-i36-16_material">
<color rgba="0 0 0 1.0"/>
</material>
</visual>
<collision>
<origin xyz="-8.2425016652094786829e-15 0.27900000000001462519 -0.059000000000023672397" rpy="-1.5707963267948155117 1.0547118733947508804e-15 -3.1415926535897593652" />
<geometry>
<mesh filename="package://hephaestus_description/meshes/mg4036e-i36-16.stl"/>
</geometry>
</collision>
<visual>
<origin xyz="-8.2425016652094786829e-15 0.27900000000001462519 -0.059000000000023672397" rpy="-1.5707963267948155117 1.0547118733947508804e-15 -3.1415926535897593652" />
<geometry>
<mesh filename="package://hephaestus_description/meshes/mg4036e-i36-4.stl"/>
</geometry>
<material name="mg4036e-i36-4_material">
<color rgba="0.90196078431372550543 0.90196078431372550543 0.90196078431372550543 1.0"/>
</material>
</visual>
<collision>
<origin xyz="-8.2425016652094786829e-15 0.27900000000001462519 -0.059000000000023672397" rpy="-1.5707963267948155117 1.0547118733947508804e-15 -3.1415926535897593652" />
<geometry>
<mesh filename="package://hephaestus_description/meshes/mg4036e-i36-4.stl"/>
</geometry>
</collision>
<visual>
<origin xyz="-8.2425016652094786829e-15 0.27900000000001462519 -0.059000000000023672397" rpy="-1.5707963267948155117 1.0547118733947508804e-15 -3.1415926535897593652" />
<geometry>
<mesh filename="package://hephaestus_description/meshes/mg4036e-i36-7.stl"/>
</geometry>
<material name="mg4036e-i36-7_material">
<color rgba="0 0 0 1.0"/>
</material>
</visual>
<collision>
<origin xyz="-8.2425016652094786829e-15 0.27900000000001462519 -0.059000000000023672397" rpy="-1.5707963267948155117 1.0547118733947508804e-15 -3.1415926535897593652" />
<geometry>
<mesh filename="package://hephaestus_description/meshes/mg4036e-i36-7.stl"/>
</geometry>
</collision>
<visual>
<origin xyz="-8.2425016652094786829e-15 0.27900000000001462519 -0.059000000000023672397" rpy="-1.5707963267948155117 1.0547118733947508804e-15 -3.1415926535897593652" />
<geometry>
<mesh filename="package://hephaestus_description/meshes/mg4036e-i36-25.stl"/>
</geometry>
<material name="mg4036e-i36-25_material">
<color rgba="1 1 1 1.0"/>
</material>
</visual>
<collision>
<origin xyz="-8.2425016652094786829e-15 0.27900000000001462519 -0.059000000000023672397" rpy="-1.5707963267948155117 1.0547118733947508804e-15 -3.1415926535897593652" />
<geometry>
<mesh filename="package://hephaestus_description/meshes/mg4036e-i36-25.stl"/>
</geometry>
</collision>
<visual>
<origin xyz="-8.2425016652094786829e-15 0.27900000000001462519 -0.059000000000023672397" rpy="-1.5707963267948155117 1.0547118733947508804e-15 -3.1415926535897593652" />
<geometry>
<mesh filename="package://hephaestus_description/meshes/mg4036e-i36-2.stl"/>
</geometry>
<material name="mg4036e-i36-2_material">
<color rgba="0.90196078431372550543 0.90196078431372550543 0.90196078431372550543 1.0"/>
</material>
</visual>
<collision>
<origin xyz="-8.2425016652094786829e-15 0.27900000000001462519 -0.059000000000023672397" rpy="-1.5707963267948155117 1.0547118733947508804e-15 -3.1415926535897593652" />
<geometry>
<mesh filename="package://hephaestus_description/meshes/mg4036e-i36-2.stl"/>
</geometry>
</collision>
<visual>
<origin xyz="-8.2425016652094786829e-15 0.27900000000001462519 -0.059000000000023672397" rpy="-1.5707963267948155117 1.0547118733947508804e-15 -3.1415926535897593652" />
<geometry>
<mesh filename="package://hephaestus_description/meshes/mg4036e-i36-19.stl"/>
</geometry>
<material name="mg4036e-i36-19_material">
<color rgba="0.90196078431372550543 0.90196078431372550543 0.90196078431372550543 1.0"/>
</material>
</visual>
<collision>
<origin xyz="-8.2425016652094786829e-15 0.27900000000001462519 -0.059000000000023672397" rpy="-1.5707963267948155117 1.0547118733947508804e-15 -3.1415926535897593652" />
<geometry>
<mesh filename="package://hephaestus_description/meshes/mg4036e-i36-19.stl"/>
</geometry>
</collision>
<visual>
<origin xyz="-8.2425016652094786829e-15 0.27900000000001462519 -0.059000000000023672397" rpy="-1.5707963267948155117 1.0547118733947508804e-15 -3.1415926535897593652" />
<geometry>
<mesh filename="package://hephaestus_description/meshes/mg4036e-i36-12.stl"/>
</geometry>
<material name="mg4036e-i36-12_material">
<color rgba="0.90196078431372550543 0.90196078431372550543 0.90196078431372550543 1.0"/>
</material>
</visual>
<collision>
<origin xyz="-8.2425016652094786829e-15 0.27900000000001462519 -0.059000000000023672397" rpy="-1.5707963267948155117 1.0547118733947508804e-15 -3.1415926535897593652" />
<geometry>
<mesh filename="package://hephaestus_description/meshes/mg4036e-i36-12.stl"/>
</geometry>
</collision>
<visual>
<origin xyz="-8.2425016652094786829e-15 0.27900000000001462519 -0.059000000000023672397" rpy="-1.5707963267948155117 1.0547118733947508804e-15 -3.1415926535897593652" />
<geometry>
<mesh filename="package://hephaestus_description/meshes/mg4036e-i36-10.stl"/>
</geometry>
<material name="mg4036e-i36-10_material">
<color rgba="0 0 0 1.0"/>
</material>
</visual>
<collision>
<origin xyz="-8.2425016652094786829e-15 0.27900000000001462519 -0.059000000000023672397" rpy="-1.5707963267948155117 1.0547118733947508804e-15 -3.1415926535897593652" />
<geometry>
<mesh filename="package://hephaestus_description/meshes/mg4036e-i36-10.stl"/>
</geometry>
</collision>
<visual>
<origin xyz="-8.2425016652094786829e-15 0.27900000000001462519 -0.059000000000023672397" rpy="-1.5707963267948155117 1.0547118733947508804e-15 -3.1415926535897593652" />
<geometry>
<mesh filename="package://hephaestus_description/meshes/mg4036e-i36-24.stl"/>
</geometry>
<material name="mg4036e-i36-24_material">
<color rgba="0 0 0 1.0"/>
</material>
</visual>
<collision>
<origin xyz="-8.2425016652094786829e-15 0.27900000000001462519 -0.059000000000023672397" rpy="-1.5707963267948155117 1.0547118733947508804e-15 -3.1415926535897593652" />
<geometry>
<mesh filename="package://hephaestus_description/meshes/mg4036e-i36-24.stl"/>
</geometry>
</collision>
<visual>
<origin xyz="-8.2425016652094786829e-15 0.27900000000001462519 -0.059000000000023672397" rpy="-1.5707963267948155117 1.0547118733947508804e-15 -3.1415926535897593652" />
<geometry>
<mesh filename="package://hephaestus_description/meshes/mg4036e-i36-14.stl"/>
</geometry>
<material name="mg4036e-i36-14_material">
<color rgba="0 0 0 1.0"/>
</material>
</visual>
<collision>
<origin xyz="-8.2425016652094786829e-15 0.27900000000001462519 -0.059000000000023672397" rpy="-1.5707963267948155117 1.0547118733947508804e-15 -3.1415926535897593652" />
<geometry>
<mesh filename="package://hephaestus_description/meshes/mg4036e-i36-14.stl"/>
</geometry>
</collision>
<visual>
<origin xyz="-8.2425016652094786829e-15 0.27900000000001462519 -0.059000000000023672397" rpy="-1.5707963267948155117 1.0547118733947508804e-15 -3.1415926535897593652" />
<geometry>
<mesh filename="package://hephaestus_description/meshes/mg4036e-i36-5.stl"/>
</geometry>
<material name="mg4036e-i36-5_material">
<color rgba="0.90196078431372550543 0.90196078431372550543 0.90196078431372550543 1.0"/>
</material>
</visual>
<collision>
<origin xyz="-8.2425016652094786829e-15 0.27900000000001462519 -0.059000000000023672397" rpy="-1.5707963267948155117 1.0547118733947508804e-15 -3.1415926535897593652" />
<geometry>
<mesh filename="package://hephaestus_description/meshes/mg4036e-i36-5.stl"/>
</geometry>
</collision>
<visual>
<origin xyz="-8.2425016652094786829e-15 0.27900000000001462519 -0.059000000000023672397" rpy="-1.5707963267948155117 1.0547118733947508804e-15 -3.1415926535897593652" />
<geometry>
<mesh filename="package://hephaestus_description/meshes/mg4036e-i36-9.stl"/>
</geometry>
<material name="mg4036e-i36-9_material">
<color rgba="0 0 0 1.0"/>
</material>
</visual>
<collision>
<origin xyz="-8.2425016652094786829e-15 0.27900000000001462519 -0.059000000000023672397" rpy="-1.5707963267948155117 1.0547118733947508804e-15 -3.1415926535897593652" />
<geometry>
<mesh filename="package://hephaestus_description/meshes/mg4036e-i36-9.stl"/>
</geometry>
</collision>
<visual>
<origin xyz="-8.2425016652094786829e-15 0.27900000000001462519 -0.059000000000023672397" rpy="-1.5707963267948155117 1.0547118733947508804e-15 -3.1415926535897593652" />
<geometry>
<mesh filename="package://hephaestus_description/meshes/mg4036e-i36-6.stl"/>
</geometry>
<material name="mg4036e-i36-6_material">
<color rgba="0.90196078431372550543 0.90196078431372550543 0.90196078431372550543 1.0"/>
</material>
</visual>
<collision>
<origin xyz="-8.2425016652094786829e-15 0.27900000000001462519 -0.059000000000023672397" rpy="-1.5707963267948155117 1.0547118733947508804e-15 -3.1415926535897593652" />
<geometry>
<mesh filename="package://hephaestus_description/meshes/mg4036e-i36-6.stl"/>
</geometry>
</collision>
<visual>
<origin xyz="-8.2425016652094786829e-15 0.27900000000001462519 -0.059000000000023672397" rpy="-1.5707963267948155117 1.0547118733947508804e-15 -3.1415926535897593652" />
<geometry>
<mesh filename="package://hephaestus_description/meshes/mg4036e-i36-30.stl"/>
</geometry>
<material name="mg4036e-i36-30_material">
<color rgba="0 0 0 1.0"/>
</material>
</visual>
<collision>
<origin xyz="-8.2425016652094786829e-15 0.27900000000001462519 -0.059000000000023672397" rpy="-1.5707963267948155117 1.0547118733947508804e-15 -3.1415926535897593652" />
<geometry>
<mesh filename="package://hephaestus_description/meshes/mg4036e-i36-30.stl"/>
</geometry>
</collision>
<visual>
<origin xyz="-8.2425016652094786829e-15 0.27900000000001462519 -0.059000000000023672397" rpy="-1.5707963267948155117 1.0547118733947508804e-15 -3.1415926535897593652" />
<geometry>
<mesh filename="package://hephaestus_description/meshes/mg4036e-i36-28.stl"/>
</geometry>
<material name="mg4036e-i36-28_material">
<color rgba="1 1 1 1.0"/>
</material>
</visual>
<collision>
<origin xyz="-8.2425016652094786829e-15 0.27900000000001462519 -0.059000000000023672397" rpy="-1.5707963267948155117 1.0547118733947508804e-15 -3.1415926535897593652" />
<geometry>
<mesh filename="package://hephaestus_description/meshes/mg4036e-i36-28.stl"/>
</geometry>
</collision>
<visual>
<origin xyz="-8.2425016652094786829e-15 0.27900000000001462519 -0.059000000000023672397" rpy="-1.5707963267948155117 1.0547118733947508804e-15 -3.1415926535897593652" />
<geometry>
<mesh filename="package://hephaestus_description/meshes/mg4036e-i36-21.stl"/>
</geometry>
<material name="mg4036e-i36-21_material">
<color rgba="0.90196078431372550543 0.90196078431372550543 0.90196078431372550543 1.0"/>
</material>
</visual>
<collision>
<origin xyz="-8.2425016652094786829e-15 0.27900000000001462519 -0.059000000000023672397" rpy="-1.5707963267948155117 1.0547118733947508804e-15 -3.1415926535897593652" />
<geometry>
<mesh filename="package://hephaestus_description/meshes/mg4036e-i36-21.stl"/>
</geometry>
</collision>
<visual>
<origin xyz="-8.2425016652094786829e-15 0.27900000000001462519 -0.059000000000023672397" rpy="-1.5707963267948155117 1.0547118733947508804e-15 -3.1415926535897593652" />
<geometry>
<mesh filename="package://hephaestus_description/meshes/mg4036e-i36-26.stl"/>
</geometry>
<material name="mg4036e-i36-26_material">
<color rgba="1 1 1 1.0"/>
</material>
</visual>
<collision>
<origin xyz="-8.2425016652094786829e-15 0.27900000000001462519 -0.059000000000023672397" rpy="-1.5707963267948155117 1.0547118733947508804e-15 -3.1415926535897593652" />
<geometry>
<mesh filename="package://hephaestus_description/meshes/mg4036e-i36-26.stl"/>
</geometry>
</collision>
<visual>
<origin xyz="-8.2425016652094786829e-15 0.27900000000001462519 -0.059000000000023672397" rpy="-1.5707963267948155117 1.0547118733947508804e-15 -3.1415926535897593652" />
<geometry>
<mesh filename="package://hephaestus_description/meshes/mg4036e-i36-11.stl"/>
</geometry>
<material name="mg4036e-i36-11_material">
<color rgba="0 0 0 1.0"/>
</material>
</visual>
<collision>
<origin xyz="-8.2425016652094786829e-15 0.27900000000001462519 -0.059000000000023672397" rpy="-1.5707963267948155117 1.0547118733947508804e-15 -3.1415926535897593652" />
<geometry>
<mesh filename="package://hephaestus_description/meshes/mg4036e-i36-11.stl"/>
</geometry>
</collision>
<visual>
<origin xyz="-8.2425016652094786829e-15 0.27900000000001462519 -0.059000000000023672397" rpy="-1.5707963267948155117 1.0547118733947508804e-15 -3.1415926535897593652" />
<geometry>
<mesh filename="package://hephaestus_description/meshes/mg4036e-i36-3.stl"/>
</geometry>
<material name="mg4036e-i36-3_material">
<color rgba="0.90196078431372550543 0.90196078431372550543 0.90196078431372550543 1.0"/>
</material>
</visual>
<collision>
<origin xyz="-8.2425016652094786829e-15 0.27900000000001462519 -0.059000000000023672397" rpy="-1.5707963267948155117 1.0547118733947508804e-15 -3.1415926535897593652" />
<geometry>
<mesh filename="package://hephaestus_description/meshes/mg4036e-i36-3.stl"/>
</geometry>
</collision>
<visual>
<origin xyz="-8.2425016652094786829e-15 0.27900000000001462519 -0.059000000000023672397" rpy="-1.5707963267948155117 1.0547118733947508804e-15 -3.1415926535897593652" />
<geometry>
<mesh filename="package://hephaestus_description/meshes/mg4036e-i36-29.stl"/>
</geometry>
<material name="mg4036e-i36-29_material">
<color rgba="0 0 0 1.0"/>
</material>
</visual>
<collision>
<origin xyz="-8.2425016652094786829e-15 0.27900000000001462519 -0.059000000000023672397" rpy="-1.5707963267948155117 1.0547118733947508804e-15 -3.1415926535897593652" />
<geometry>
<mesh filename="package://hephaestus_description/meshes/mg4036e-i36-29.stl"/>
</geometry>
</collision>
<visual>
<origin xyz="-8.2425016652094786829e-15 0.27900000000001462519 -0.059000000000023672397" rpy="-1.5707963267948155117 1.0547118733947508804e-15 -3.1415926535897593652" />
<geometry>
<mesh filename="package://hephaestus_description/meshes/mg4036e-i36-18.stl"/>
</geometry>
<material name="mg4036e-i36-18_material">
<color rgba="0 0 0 1.0"/>
</material>
</visual>
<collision>
<origin xyz="-8.2425016652094786829e-15 0.27900000000001462519 -0.059000000000023672397" rpy="-1.5707963267948155117 1.0547118733947508804e-15 -3.1415926535897593652" />
<geometry>
<mesh filename="package://hephaestus_description/meshes/mg4036e-i36-18.stl"/>
</geometry>
</collision>
<visual>
<origin xyz="-8.2425016652094786829e-15 0.27900000000001462519 -0.059000000000023672397" rpy="-1.5707963267948155117 1.0547118733947508804e-15 -3.1415926535897593652" />
<geometry>
<mesh filename="package://hephaestus_description/meshes/mg4036e-i36-22.stl"/>
</geometry>
<material name="mg4036e-i36-22_material">
<color rgba="1 1 1 1.0"/>
</material>
</visual>
<collision>
<origin xyz="-8.2425016652094786829e-15 0.27900000000001462519 -0.059000000000023672397" rpy="-1.5707963267948155117 1.0547118733947508804e-15 -3.1415926535897593652" />
<geometry>
<mesh filename="package://hephaestus_description/meshes/mg4036e-i36-22.stl"/>
</geometry>
</collision>
<visual>
<origin xyz="-8.2425016652094786829e-15 0.27900000000001462519 -0.059000000000023672397" rpy="-1.5707963267948155117 1.0547118733947508804e-15 -3.1415926535897593652" />
<geometry>
<mesh filename="package://hephaestus_description/meshes/mg4036e-i36-13.stl"/>
</geometry>
<material name="mg4036e-i36-13_material">
<color rgba="0 0 0 1.0"/>
</material>
</visual>
<collision>
<origin xyz="-8.2425016652094786829e-15 0.27900000000001462519 -0.059000000000023672397" rpy="-1.5707963267948155117 1.0547118733947508804e-15 -3.1415926535897593652" />
<geometry>
<mesh filename="package://hephaestus_description/meshes/mg4036e-i36-13.stl"/>
</geometry>
</collision>
<visual>
<origin xyz="-8.2425016652094786829e-15 0.27900000000001462519 -0.059000000000023672397" rpy="-1.5707963267948155117 1.0547118733947508804e-15 -3.1415926535897593652" />
<geometry>
<mesh filename="package://hephaestus_description/meshes/mg4036e-i36-27.stl"/>
</geometry>
<material name="mg4036e-i36-27_material">
<color rgba="0 0 0 1.0"/>
</material>
</visual>
<collision>
<origin xyz="-8.2425016652094786829e-15 0.27900000000001462519 -0.059000000000023672397" rpy="-1.5707963267948155117 1.0547118733947508804e-15 -3.1415926535897593652" />
<geometry>
<mesh filename="package://hephaestus_description/meshes/mg4036e-i36-27.stl"/>
</geometry>
</collision>
<visual>
<origin xyz="-8.2425016652094786829e-15 0.27900000000001462519 -0.059000000000023672397" rpy="-1.5707963267948155117 1.0547118733947508804e-15 -3.1415926535897593652" />
<geometry>
<mesh filename="package://hephaestus_description/meshes/mg4036e-i36-23.stl"/>
</geometry>
<material name="mg4036e-i36-23_material">
<color rgba="1 1 1 1.0"/>
</material>
</visual>
<collision>
<origin xyz="-8.2425016652094786829e-15 0.27900000000001462519 -0.059000000000023672397" rpy="-1.5707963267948155117 1.0547118733947508804e-15 -3.1415926535897593652" />
<geometry>
<mesh filename="package://hephaestus_description/meshes/mg4036e-i36-23.stl"/>
</geometry>
</collision>
<visual>
<origin xyz="-8.2425016652094786829e-15 0.27900000000001462519 -0.059000000000023672397" rpy="-1.5707963267948155117 1.0547118733947508804e-15 -3.1415926535897593652" />
<geometry>
<mesh filename="package://hephaestus_description/meshes/mg4036e-i36-15.stl"/>
</geometry>
<material name="mg4036e-i36-15_material">
<color rgba="0 0 0 1.0"/>
</material>
</visual>
<collision>
<origin xyz="-8.2425016652094786829e-15 0.27900000000001462519 -0.059000000000023672397" rpy="-1.5707963267948155117 1.0547118733947508804e-15 -3.1415926535897593652" />
<geometry>
<mesh filename="package://hephaestus_description/meshes/mg4036e-i36-15.stl"/>
</geometry>
</collision>
<visual>
<origin xyz="-8.2425016652094786829e-15 0.27900000000001462519 -0.059000000000023672397" rpy="-1.5707963267948155117 1.0547118733947508804e-15 -3.1415926535897593652" />
<geometry>
<mesh filename="package://hephaestus_description/meshes/mg4036e-i36-8.stl"/>
</geometry>
<material name="mg4036e-i36-8_material">
<color rgba="0 0 0 1.0"/>
</material>
</visual>
<collision>
<origin xyz="-8.2425016652094786829e-15 0.27900000000001462519 -0.059000000000023672397" rpy="-1.5707963267948155117 1.0547118733947508804e-15 -3.1415926535897593652" />
<geometry>
<mesh filename="package://hephaestus_description/meshes/mg4036e-i36-8.stl"/>
</geometry>
</collision>
<inertial>
<origin xyz="-5.4396035183649744607e-06 0.16881349815268154035 -0.035388517602497136794" rpy="0 0 0"/>
<mass value="0.92830831261165946966" />
<inertia ixx="0.010320001651904286283" ixy="5.4127235078279299265e-07"  ixz="-1.7449090270220427518e-07" iyy="0.00040515648217119082722" iyz="0.00062710413620039034011" izz="0.010229716060720314003" />
</inertial>
</link>

<link name="link5">
<visual>
<origin xyz="-0.027999999999995806022 -0.011874999999996962638 -0.06106810333988763051" rpy="2.2093438190040741372e-14 1.5707963267947926411 0" />
<geometry>
<mesh filename="package://hephaestus_description/meshes/m3_6mm.stl"/>
</geometry>
<material name="m3_6mm_material">
<color rgba="0.90196078431372550543 0.90196078431372550543 0.90196078431372550543 1.0"/>
</material>
</visual>
<collision>
<origin xyz="-0.027999999999995806022 -0.011874999999996962638 -0.06106810333988763051" rpy="2.2093438190040741372e-14 1.5707963267947926411 0" />
<geometry>
<mesh filename="package://hephaestus_description/meshes/m3_6mm.stl"/>
</geometry>
</collision>
<visual>
<origin xyz="0.01200000000000156497 -1.6977627382098195089e-16 -0.013999999999999020173" rpy="-8.6042284408313040617e-16 -5.0515147620444584724e-14 -4.3576253716534861968e-15" />
<geometry>
<mesh filename="package://hephaestus_description/meshes/m4_18mm.stl"/>
</geometry>
<material name="m4_18mm_material">
<color rgba="0.90196078431372550543 0.90196078431372550543 0.90196078431372550543 1.0"/>
</material>
</visual>
<collision>
<origin xyz="0.01200000000000156497 -1.6977627382098195089e-16 -0.013999999999999020173" rpy="-8.6042284408313040617e-16 -5.0515147620444584724e-14 -4.3576253716534861968e-15" />
<geometry>
<mesh filename="package://hephaestus_description/meshes/m4_18mm.stl"/>
</geometry>
</collision>
<visual>
<origin xyz="-0.027999999999995028865 0.011875000000004128781 -0.061068103339887463976" rpy="2.1815882433884452237e-14 1.5707963267947926411 0" />
<geometry>
<mesh filename="package://hephaestus_description/meshes/m3_6mm.stl"/>
</geometry>
<material name="m3_6mm_material">
<color rgba="0.90196078431372550543 0.90196078431372550543 0.90196078431372550543 1.0"/>
</material>
</visual>
<collision>
<origin xyz="-0.027999999999995028865 0.011875000000004128781 -0.061068103339887463976" rpy="2.1815882433884452237e-14 1.5707963267947926411 0" />
<geometry>
<mesh filename="package://hephaestus_description/meshes/m3_6mm.stl"/>
</geometry>
</collision>
<visual>
<origin xyz="-0.027999999999996583178 0.023750000000003743811 -0.040500000000005198508" rpy="2.2093438190040741372e-14 1.5707963267947926411 0" />
<geometry>
<mesh filename="package://hephaestus_description/meshes/m3_6mm.stl"/>
</geometry>
<material name="m3_6mm_material">
<color rgba="0.90196078431372550543 0.90196078431372550543 0.90196078431372550543 1.0"/>
</material>
</visual>
<collision>
<origin xyz="-0.027999999999996583178 0.023750000000003743811 -0.040500000000005198508" rpy="2.2093438190040741372e-14 1.5707963267947926411 0" />
<geometry>
<mesh filename="package://hephaestus_description/meshes/m3_6mm.stl"/>
</geometry>
</collision>
<visual>
<origin xyz="-0.027999999999999247713 0.01187500000000231426 -0.019931896660123057941" rpy="2.2093438190040741372e-14 1.5707963267947926411 0" />
<geometry>
<mesh filename="package://hephaestus_description/meshes/m3_6mm.stl"/>
</geometry>
<material name="m3_6mm_material">
<color rgba="0.90196078431372550543 0.90196078431372550543 0.90196078431372550543 1.0"/>
</material>
</visual>
<collision>
<origin xyz="-0.027999999999999247713 0.01187500000000231426 -0.019931896660123057941" rpy="2.2093438190040741372e-14 1.5707963267947926411 0" />
<geometry>
<mesh filename="package://hephaestus_description/meshes/m3_6mm.stl"/>
</geometry>
</collision>
<visual>
<origin xyz="-0.0059999999999987840837 0.010392304845414219311 -0.014000000000000741018" rpy="-6.106226635424459271e-16 -5.1736392947532256918e-14 -4.4408920985003855591e-15" />
<geometry>
<mesh filename="package://hephaestus_description/meshes/m4_18mm.stl"/>
</geometry>
<material name="m4_18mm_material">
<color rgba="0.90196078431372550543 0.90196078431372550543 0.90196078431372550543 1.0"/>
</material>
</visual>
<collision>
<origin xyz="-0.0059999999999987840837 0.010392304845414219311 -0.014000000000000741018" rpy="-6.106226635424459271e-16 -5.1736392947532256918e-14 -4.4408920985003855591e-15" />
<geometry>
<mesh filename="package://hephaestus_description/meshes/m4_18mm.stl"/>
</geometry>
</collision>
<visual>
<origin xyz="-0.021999999999997688072 2.7424439168582396965e-15 -0.040500000000007169154" rpy="1.570796326794981379 6.9326993675135547387e-14 -1.5707963267949183184" />
<geometry>
<mesh filename="package://hephaestus_description/meshes/mg4036i36_bracket.stl"/>
</geometry>
<material name="mg4036i36_bracket_material">
<color rgba="0.90196078431372550543 0.90196078431372550543 0.90196078431372550543 1.0"/>
</material>
</visual>
<collision>
<origin xyz="-0.021999999999997688072 2.7424439168582396965e-15 -0.040500000000007169154" rpy="1.570796326794981379 6.9326993675135547387e-14 -1.5707963267949183184" />
<geometry>
<mesh filename="package://hephaestus_description/meshes/mg4036i36_bracket.stl"/>
</geometry>
</collision>
<visual>
<origin xyz="-0.028000000000000135891 -0.011874999999998542971 -0.019931896660123196718" rpy="2.2093438190040741372e-14 1.5707963267947926411 0" />
<geometry>
<mesh filename="package://hephaestus_description/meshes/m3_6mm.stl"/>
</geometry>
<material name="m3_6mm_material">
<color rgba="0.90196078431372550543 0.90196078431372550543 0.90196078431372550543 1.0"/>
</material>
</visual>
<collision>
<origin xyz="-0.028000000000000135891 -0.011874999999998542971 -0.019931896660123196718" rpy="2.2093438190040741372e-14 1.5707963267947926411 0" />
<geometry>
<mesh filename="package://hephaestus_description/meshes/m3_6mm.stl"/>
</geometry>
</collision>
<visual>
<origin xyz="-0.0059999999999996722622 -0.010392304845412930411 -0.014000000000000865918" rpy="-4.9960036107994585306e-16 -5.1181281435219678648e-14 -4.3298697960378572833e-15" />
<geometry>
<mesh filename="package://hephaestus_description/meshes/m4_18mm.stl"/>
</geometry>
<material name="m4_18mm_material">
<color rgba="0.90196078431372550543 0.90196078431372550543 0.90196078431372550543 1.0"/>
</material>
</visual>
<collision>
<origin xyz="-0.0059999999999996722622 -0.010392304845412930411 -0.014000000000000865918" rpy="-4.9960036107994585306e-16 -5.1181281435219678648e-14 -4.3298697960378572833e-15" />
<geometry>
<mesh filename="package://hephaestus_description/meshes/m4_18mm.stl"/>
</geometry>
</collision>
<visual>
<origin xyz="-0.027999999999998581579 -0.023749999999998112898 -0.040500000000005476064" rpy="2.2093438190040741372e-14 1.5707963267947926411 0" />
<geometry>
<mesh filename="package://hephaestus_description/meshes/m3_6mm.stl"/>
</geometry>
<material name="m3_6mm_material">
<color rgba="0.90196078431372550543 0.90196078431372550543 0.90196078431372550543 1.0"/>
</material>
</visual>
<collision>
<origin xyz="-0.027999999999998581579 -0.023749999999998112898 -0.040500000000005476064" rpy="2.2093438190040741372e-14 1.5707963267947926411 0" />
<geometry>
<mesh filename="package://hephaestus_description/meshes/m3_6mm.stl"/>
</geometry>
</collision>
<visual>
<origin xyz="0 -9.7971743931995115625e-19 -0.0059999999999999983902" rpy="1.8198035814962243551e-31 -0 0" />
<geometry>
<mesh filename="package://hephaestus_description/meshes/4036_output_type_a.stl"/>
</geometry>
<material name="4036_output_type_a_material">
<color rgba="0.90196078431372550543 0.90196078431372550543 0.90196078431372550543 1.0"/>
</material>
</visual>
<collision>
<origin xyz="0 -9.7971743931995115625e-19 -0.0059999999999999983902" rpy="1.8198035814962243551e-31 -0 0" />
<geometry>
<mesh filename="package://hephaestus_description/meshes/4036_output_type_a.stl"/>
</geometry>
</collision>
<visual>
<origin xyz="0.017000000000004455991 8.0697220122651874064e-16 -0.040500000000000854761" rpy="3.1415926535897402694 9.4988410732511270747e-15 1.5707963267948943376" />
<geometry>
<mesh filename="package://hephaestus_description/meshes/mg4036e-i36-1.stl"/>
</geometry>
<material name="mg4036e-i36-1_material">
<color rgba="0.90196078431372550543 0.90196078431372550543 0.90196078431372550543 1.0"/>
</material>
</visual>
<collision>
<origin xyz="0.017000000000004455991 8.0697220122651874064e-16 -0.040500000000000854761" rpy="3.1415926535897402694 9.4988410732511270747e-15 1.5707963267948943376" />
<geometry>
<mesh filename="package://hephaestus_description/meshes/mg4036e-i36-1.stl"/>
</geometry>
</collision>
<visual>
<origin xyz="0.017000000000004455991 8.0697220122651874064e-16 -0.040500000000000854761" rpy="3.1415926535897402694 9.4988410732511270747e-15 1.5707963267948943376" />
<geometry>
<mesh filename="package://hephaestus_description/meshes/mg4036e-i36-17.stl"/>
</geometry>
<material name="mg4036e-i36-17_material">
<color rgba="0 0 0 1.0"/>
</material>
</visual>
<collision>
<origin xyz="0.017000000000004455991 8.0697220122651874064e-16 -0.040500000000000854761" rpy="3.1415926535897402694 9.4988410732511270747e-15 1.5707963267948943376" />
<geometry>
<mesh filename="package://hephaestus_description/meshes/mg4036e-i36-17.stl"/>
</geometry>
</collision>
<visual>
<origin xyz="0.017000000000004455991 8.0697220122651874064e-16 -0.040500000000000854761" rpy="3.1415926535897402694 9.4988410732511270747e-15 1.5707963267948943376" />
<geometry>
<mesh filename="package://hephaestus_description/meshes/mg4036e-i36-20.stl"/>
</geometry>
<material name="mg4036e-i36-20_material">
<color rgba="0.90196078431372550543 0.90196078431372550543 0.90196078431372550543 1.0"/>
</material>
</visual>
<collision>
<origin xyz="0.017000000000004455991 8.0697220122651874064e-16 -0.040500000000000854761" rpy="3.1415926535897402694 9.4988410732511270747e-15 1.5707963267948943376" />
<geometry>
<mesh filename="package://hephaestus_description/meshes/mg4036e-i36-20.stl"/>
</geometry>
</collision>
<visual>
<origin xyz="0.017000000000004455991 8.0697220122651874064e-16 -0.040500000000000854761" rpy="3.1415926535897402694 9.4988410732511270747e-15 1.5707963267948943376" />
<geometry>
<mesh filename="package://hephaestus_description/meshes/mg4036e-i36-16.stl"/>
</geometry>
<material name="mg4036e-i36-16_material">
<color rgba="0 0 0 1.0"/>
</material>
</visual>
<collision>
<origin xyz="0.017000000000004455991 8.0697220122651874064e-16 -0.040500000000000854761" rpy="3.1415926535897402694 9.4988410732511270747e-15 1.5707963267948943376" />
<geometry>
<mesh filename="package://hephaestus_description/meshes/mg4036e-i36-16.stl"/>
</geometry>
</collision>
<visual>
<origin xyz="0.017000000000004455991 8.0697220122651874064e-16 -0.040500000000000854761" rpy="3.1415926535897402694 9.4988410732511270747e-15 1.5707963267948943376" />
<geometry>
<mesh filename="package://hephaestus_description/meshes/mg4036e-i36-4.stl"/>
</geometry>
<material name="mg4036e-i36-4_material">
<color rgba="0.90196078431372550543 0.90196078431372550543 0.90196078431372550543 1.0"/>
</material>
</visual>
<collision>
<origin xyz="0.017000000000004455991 8.0697220122651874064e-16 -0.040500000000000854761" rpy="3.1415926535897402694 9.4988410732511270747e-15 1.5707963267948943376" />
<geometry>
<mesh filename="package://hephaestus_description/meshes/mg4036e-i36-4.stl"/>
</geometry>
</collision>
<visual>
<origin xyz="0.017000000000004455991 8.0697220122651874064e-16 -0.040500000000000854761" rpy="3.1415926535897402694 9.4988410732511270747e-15 1.5707963267948943376" />
<geometry>
<mesh filename="package://hephaestus_description/meshes/mg4036e-i36-7.stl"/>
</geometry>
<material name="mg4036e-i36-7_material">
<color rgba="0 0 0 1.0"/>
</material>
</visual>
<collision>
<origin xyz="0.017000000000004455991 8.0697220122651874064e-16 -0.040500000000000854761" rpy="3.1415926535897402694 9.4988410732511270747e-15 1.5707963267948943376" />
<geometry>
<mesh filename="package://hephaestus_description/meshes/mg4036e-i36-7.stl"/>
</geometry>
</collision>
<visual>
<origin xyz="0.017000000000004455991 8.0697220122651874064e-16 -0.040500000000000854761" rpy="3.1415926535897402694 9.4988410732511270747e-15 1.5707963267948943376" />
<geometry>
<mesh filename="package://hephaestus_description/meshes/mg4036e-i36-25.stl"/>
</geometry>
<material name="mg4036e-i36-25_material">
<color rgba="1 1 1 1.0"/>
</material>
</visual>
<collision>
<origin xyz="0.017000000000004455991 8.0697220122651874064e-16 -0.040500000000000854761" rpy="3.1415926535897402694 9.4988410732511270747e-15 1.5707963267948943376" />
<geometry>
<mesh filename="package://hephaestus_description/meshes/mg4036e-i36-25.stl"/>
</geometry>
</collision>
<visual>
<origin xyz="0.017000000000004455991 8.0697220122651874064e-16 -0.040500000000000854761" rpy="3.1415926535897402694 9.4988410732511270747e-15 1.5707963267948943376" />
<geometry>
<mesh filename="package://hephaestus_description/meshes/mg4036e-i36-2.stl"/>
</geometry>
<material name="mg4036e-i36-2_material">
<color rgba="0.90196078431372550543 0.90196078431372550543 0.90196078431372550543 1.0"/>
</material>
</visual>
<collision>
<origin xyz="0.017000000000004455991 8.0697220122651874064e-16 -0.040500000000000854761" rpy="3.1415926535897402694 9.4988410732511270747e-15 1.5707963267948943376" />
<geometry>
<mesh filename="package://hephaestus_description/meshes/mg4036e-i36-2.stl"/>
</geometry>
</collision>
<visual>
<origin xyz="0.017000000000004455991 8.0697220122651874064e-16 -0.040500000000000854761" rpy="3.1415926535897402694 9.4988410732511270747e-15 1.5707963267948943376" />
<geometry>
<mesh filename="package://hephaestus_description/meshes/mg4036e-i36-19.stl"/>
</geometry>
<material name="mg4036e-i36-19_material">
<color rgba="0.90196078431372550543 0.90196078431372550543 0.90196078431372550543 1.0"/>
</material>
</visual>
<collision>
<origin xyz="0.017000000000004455991 8.0697220122651874064e-16 -0.040500000000000854761" rpy="3.1415926535897402694 9.4988410732511270747e-15 1.5707963267948943376" />
<geometry>
<mesh filename="package://hephaestus_description/meshes/mg4036e-i36-19.stl"/>
</geometry>
</collision>
<visual>
<origin xyz="0.017000000000004455991 8.0697220122651874064e-16 -0.040500000000000854761" rpy="3.1415926535897402694 9.4988410732511270747e-15 1.5707963267948943376" />
<geometry>
<mesh filename="package://hephaestus_description/meshes/mg4036e-i36-12.stl"/>
</geometry>
<material name="mg4036e-i36-12_material">
<color rgba="0.90196078431372550543 0.90196078431372550543 0.90196078431372550543 1.0"/>
</material>
</visual>
<collision>
<origin xyz="0.017000000000004455991 8.0697220122651874064e-16 -0.040500000000000854761" rpy="3.1415926535897402694 9.4988410732511270747e-15 1.5707963267948943376" />
<geometry>
<mesh filename="package://hephaestus_description/meshes/mg4036e-i36-12.stl"/>
</geometry>
</collision>
<visual>
<origin xyz="0.017000000000004455991 8.0697220122651874064e-16 -0.040500000000000854761" rpy="3.1415926535897402694 9.4988410732511270747e-15 1.5707963267948943376" />
<geometry>
<mesh filename="package://hephaestus_description/meshes/mg4036e-i36-10.stl"/>
</geometry>
<material name="mg4036e-i36-10_material">
<color rgba="0 0 0 1.0"/>
</material>
</visual>
<collision>
<origin xyz="0.017000000000004455991 8.0697220122651874064e-16 -0.040500000000000854761" rpy="3.1415926535897402694 9.4988410732511270747e-15 1.5707963267948943376" />
<geometry>
<mesh filename="package://hephaestus_description/meshes/mg4036e-i36-10.stl"/>
</geometry>
</collision>
<visual>
<origin xyz="0.017000000000004455991 8.0697220122651874064e-16 -0.040500000000000854761" rpy="3.1415926535897402694 9.4988410732511270747e-15 1.5707963267948943376" />
<geometry>
<mesh filename="package://hephaestus_description/meshes/mg4036e-i36-24.stl"/>
</geometry>
<material name="mg4036e-i36-24_material">
<color rgba="0 0 0 1.0"/>
</material>
</visual>
<collision>
<origin xyz="0.017000000000004455991 8.0697220122651874064e-16 -0.040500000000000854761" rpy="3.1415926535897402694 9.4988410732511270747e-15 1.5707963267948943376" />
<geometry>
<mesh filename="package://hephaestus_description/meshes/mg4036e-i36-24.stl"/>
</geometry>
</collision>
<visual>
<origin xyz="0.017000000000004455991 8.0697220122651874064e-16 -0.040500000000000854761" rpy="3.1415926535897402694 9.4988410732511270747e-15 1.5707963267948943376" />
<geometry>
<mesh filename="package://hephaestus_description/meshes/mg4036e-i36-14.stl"/>
</geometry>
<material name="mg4036e-i36-14_material">
<color rgba="0 0 0 1.0"/>
</material>
</visual>
<collision>
<origin xyz="0.017000000000004455991 8.0697220122651874064e-16 -0.040500000000000854761" rpy="3.1415926535897402694 9.4988410732511270747e-15 1.5707963267948943376" />
<geometry>
<mesh filename="package://hephaestus_description/meshes/mg4036e-i36-14.stl"/>
</geometry>
</collision>
<visual>
<origin xyz="0.017000000000004455991 8.0697220122651874064e-16 -0.040500000000000854761" rpy="3.1415926535897402694 9.4988410732511270747e-15 1.5707963267948943376" />
<geometry>
<mesh filename="package://hephaestus_description/meshes/mg4036e-i36-5.stl"/>
</geometry>
<material name="mg4036e-i36-5_material">
<color rgba="0.90196078431372550543 0.90196078431372550543 0.90196078431372550543 1.0"/>
</material>
</visual>
<collision>
<origin xyz="0.017000000000004455991 8.0697220122651874064e-16 -0.040500000000000854761" rpy="3.1415926535897402694 9.4988410732511270747e-15 1.5707963267948943376" />
<geometry>
<mesh filename="package://hephaestus_description/meshes/mg4036e-i36-5.stl"/>
</geometry>
</collision>
<visual>
<origin xyz="0.017000000000004455991 8.0697220122651874064e-16 -0.040500000000000854761" rpy="3.1415926535897402694 9.4988410732511270747e-15 1.5707963267948943376" />
<geometry>
<mesh filename="package://hephaestus_description/meshes/mg4036e-i36-9.stl"/>
</geometry>
<material name="mg4036e-i36-9_material">
<color rgba="0 0 0 1.0"/>
</material>
</visual>
<collision>
<origin xyz="0.017000000000004455991 8.0697220122651874064e-16 -0.040500000000000854761" rpy="3.1415926535897402694 9.4988410732511270747e-15 1.5707963267948943376" />
<geometry>
<mesh filename="package://hephaestus_description/meshes/mg4036e-i36-9.stl"/>
</geometry>
</collision>
<visual>
<origin xyz="0.017000000000004455991 8.0697220122651874064e-16 -0.040500000000000854761" rpy="3.1415926535897402694 9.4988410732511270747e-15 1.5707963267948943376" />
<geometry>
<mesh filename="package://hephaestus_description/meshes/mg4036e-i36-6.stl"/>
</geometry>
<material name="mg4036e-i36-6_material">
<color rgba="0.90196078431372550543 0.90196078431372550543 0.90196078431372550543 1.0"/>
</material>
</visual>
<collision>
<origin xyz="0.017000000000004455991 8.0697220122651874064e-16 -0.040500000000000854761" rpy="3.1415926535897402694 9.4988410732511270747e-15 1.5707963267948943376" />
<geometry>
<mesh filename="package://hephaestus_description/meshes/mg4036e-i36-6.stl"/>
</geometry>
</collision>
<visual>
<origin xyz="0.017000000000004455991 8.0697220122651874064e-16 -0.040500000000000854761" rpy="3.1415926535897402694 9.4988410732511270747e-15 1.5707963267948943376" />
<geometry>
<mesh filename="package://hephaestus_description/meshes/mg4036e-i36-30.stl"/>
</geometry>
<material name="mg4036e-i36-30_material">
<color rgba="0 0 0 1.0"/>
</material>
</visual>
<collision>
<origin xyz="0.017000000000004455991 8.0697220122651874064e-16 -0.040500000000000854761" rpy="3.1415926535897402694 9.4988410732511270747e-15 1.5707963267948943376" />
<geometry>
<mesh filename="package://hephaestus_description/meshes/mg4036e-i36-30.stl"/>
</geometry>
</collision>
<visual>
<origin xyz="0.017000000000004455991 8.0697220122651874064e-16 -0.040500000000000854761" rpy="3.1415926535897402694 9.4988410732511270747e-15 1.5707963267948943376" />
<geometry>
<mesh filename="package://hephaestus_description/meshes/mg4036e-i36-28.stl"/>
</geometry>
<material name="mg4036e-i36-28_material">
<color rgba="1 1 1 1.0"/>
</material>
</visual>
<collision>
<origin xyz="0.017000000000004455991 8.0697220122651874064e-16 -0.040500000000000854761" rpy="3.1415926535897402694 9.4988410732511270747e-15 1.5707963267948943376" />
<geometry>
<mesh filename="package://hephaestus_description/meshes/mg4036e-i36-28.stl"/>
</geometry>
</collision>
<visual>
<origin xyz="0.017000000000004455991 8.0697220122651874064e-16 -0.040500000000000854761" rpy="3.1415926535897402694 9.4988410732511270747e-15 1.5707963267948943376" />
<geometry>
<mesh filename="package://hephaestus_description/meshes/mg4036e-i36-21.stl"/>
</geometry>
<material name="mg4036e-i36-21_material">
<color rgba="0.90196078431372550543 0.90196078431372550543 0.90196078431372550543 1.0"/>
</material>
</visual>
<collision>
<origin xyz="0.017000000000004455991 8.0697220122651874064e-16 -0.040500000000000854761" rpy="3.1415926535897402694 9.4988410732511270747e-15 1.5707963267948943376" />
<geometry>
<mesh filename="package://hephaestus_description/meshes/mg4036e-i36-21.stl"/>
</geometry>
</collision>
<visual>
<origin xyz="0.017000000000004455991 8.0697220122651874064e-16 -0.040500000000000854761" rpy="3.1415926535897402694 9.4988410732511270747e-15 1.5707963267948943376" />
<geometry>
<mesh filename="package://hephaestus_description/meshes/mg4036e-i36-26.stl"/>
</geometry>
<material name="mg4036e-i36-26_material">
<color rgba="1 1 1 1.0"/>
</material>
</visual>
<collision>
<origin xyz="0.017000000000004455991 8.0697220122651874064e-16 -0.040500000000000854761" rpy="3.1415926535897402694 9.4988410732511270747e-15 1.5707963267948943376" />
<geometry>
<mesh filename="package://hephaestus_description/meshes/mg4036e-i36-26.stl"/>
</geometry>
</collision>
<visual>
<origin xyz="0.017000000000004455991 8.0697220122651874064e-16 -0.040500000000000854761" rpy="3.1415926535897402694 9.4988410732511270747e-15 1.5707963267948943376" />
<geometry>
<mesh filename="package://hephaestus_description/meshes/mg4036e-i36-11.stl"/>
</geometry>
<material name="mg4036e-i36-11_material">
<color rgba="0 0 0 1.0"/>
</material>
</visual>
<collision>
<origin xyz="0.017000000000004455991 8.0697220122651874064e-16 -0.040500000000000854761" rpy="3.1415926535897402694 9.4988410732511270747e-15 1.5707963267948943376" />
<geometry>
<mesh filename="package://hephaestus_description/meshes/mg4036e-i36-11.stl"/>
</geometry>
</collision>
<visual>
<origin xyz="0.017000000000004455991 8.0697220122651874064e-16 -0.040500000000000854761" rpy="3.1415926535897402694 9.4988410732511270747e-15 1.5707963267948943376" />
<geometry>
<mesh filename="package://hephaestus_description/meshes/mg4036e-i36-3.stl"/>
</geometry>
<material name="mg4036e-i36-3_material">
<color rgba="0.90196078431372550543 0.90196078431372550543 0.90196078431372550543 1.0"/>
</material>
</visual>
<collision>
<origin xyz="0.017000000000004455991 8.0697220122651874064e-16 -0.040500000000000854761" rpy="3.1415926535897402694 9.4988410732511270747e-15 1.5707963267948943376" />
<geometry>
<mesh filename="package://hephaestus_description/meshes/mg4036e-i36-3.stl"/>
</geometry>
</collision>
<visual>
<origin xyz="0.017000000000004455991 8.0697220122651874064e-16 -0.040500000000000854761" rpy="3.1415926535897402694 9.4988410732511270747e-15 1.5707963267948943376" />
<geometry>
<mesh filename="package://hephaestus_description/meshes/mg4036e-i36-29.stl"/>
</geometry>
<material name="mg4036e-i36-29_material">
<color rgba="0 0 0 1.0"/>
</material>
</visual>
<collision>
<origin xyz="0.017000000000004455991 8.0697220122651874064e-16 -0.040500000000000854761" rpy="3.1415926535897402694 9.4988410732511270747e-15 1.5707963267948943376" />
<geometry>
<mesh filename="package://hephaestus_description/meshes/mg4036e-i36-29.stl"/>
</geometry>
</collision>
<visual>
<origin xyz="0.017000000000004455991 8.0697220122651874064e-16 -0.040500000000000854761" rpy="3.1415926535897402694 9.4988410732511270747e-15 1.5707963267948943376" />
<geometry>
<mesh filename="package://hephaestus_description/meshes/mg4036e-i36-18.stl"/>
</geometry>
<material name="mg4036e-i36-18_material">
<color rgba="0 0 0 1.0"/>
</material>
</visual>
<collision>
<origin xyz="0.017000000000004455991 8.0697220122651874064e-16 -0.040500000000000854761" rpy="3.1415926535897402694 9.4988410732511270747e-15 1.5707963267948943376" />
<geometry>
<mesh filename="package://hephaestus_description/meshes/mg4036e-i36-18.stl"/>
</geometry>
</collision>
<visual>
<origin xyz="0.017000000000004455991 8.0697220122651874064e-16 -0.040500000000000854761" rpy="3.1415926535897402694 9.4988410732511270747e-15 1.5707963267948943376" />
<geometry>
<mesh filename="package://hephaestus_description/meshes/mg4036e-i36-22.stl"/>
</geometry>
<material name="mg4036e-i36-22_material">
<color rgba="1 1 1 1.0"/>
</material>
</visual>
<collision>
<origin xyz="0.017000000000004455991 8.0697220122651874064e-16 -0.040500000000000854761" rpy="3.1415926535897402694 9.4988410732511270747e-15 1.5707963267948943376" />
<geometry>
<mesh filename="package://hephaestus_description/meshes/mg4036e-i36-22.stl"/>
</geometry>
</collision>
<visual>
<origin xyz="0.017000000000004455991 8.0697220122651874064e-16 -0.040500000000000854761" rpy="3.1415926535897402694 9.4988410732511270747e-15 1.5707963267948943376" />
<geometry>
<mesh filename="package://hephaestus_description/meshes/mg4036e-i36-13.stl"/>
</geometry>
<material name="mg4036e-i36-13_material">
<color rgba="0 0 0 1.0"/>
</material>
</visual>
<collision>
<origin xyz="0.017000000000004455991 8.0697220122651874064e-16 -0.040500000000000854761" rpy="3.1415926535897402694 9.4988410732511270747e-15 1.5707963267948943376" />
<geometry>
<mesh filename="package://hephaestus_description/meshes/mg4036e-i36-13.stl"/>
</geometry>
</collision>
<visual>
<origin xyz="0.017000000000004455991 8.0697220122651874064e-16 -0.040500000000000854761" rpy="3.1415926535897402694 9.4988410732511270747e-15 1.5707963267948943376" />
<geometry>
<mesh filename="package://hephaestus_description/meshes/mg4036e-i36-27.stl"/>
</geometry>
<material name="mg4036e-i36-27_material">
<color rgba="0 0 0 1.0"/>
</material>
</visual>
<collision>
<origin xyz="0.017000000000004455991 8.0697220122651874064e-16 -0.040500000000000854761" rpy="3.1415926535897402694 9.4988410732511270747e-15 1.5707963267948943376" />
<geometry>
<mesh filename="package://hephaestus_description/meshes/mg4036e-i36-27.stl"/>
</geometry>
</collision>
<visual>
<origin xyz="0.017000000000004455991 8.0697220122651874064e-16 -0.040500000000000854761" rpy="3.1415926535897402694 9.4988410732511270747e-15 1.5707963267948943376" />
<geometry>
<mesh filename="package://hephaestus_description/meshes/mg4036e-i36-23.stl"/>
</geometry>
<material name="mg4036e-i36-23_material">
<color rgba="1 1 1 1.0"/>
</material>
</visual>
<collision>
<origin xyz="0.017000000000004455991 8.0697220122651874064e-16 -0.040500000000000854761" rpy="3.1415926535897402694 9.4988410732511270747e-15 1.5707963267948943376" />
<geometry>
<mesh filename="package://hephaestus_description/meshes/mg4036e-i36-23.stl"/>
</geometry>
</collision>
<visual>
<origin xyz="0.017000000000004455991 8.0697220122651874064e-16 -0.040500000000000854761" rpy="3.1415926535897402694 9.4988410732511270747e-15 1.5707963267948943376" />
<geometry>
<mesh filename="package://hephaestus_description/meshes/mg4036e-i36-15.stl"/>
</geometry>
<material name="mg4036e-i36-15_material">
<color rgba="0 0 0 1.0"/>
</material>
</visual>
<collision>
<origin xyz="0.017000000000004455991 8.0697220122651874064e-16 -0.040500000000000854761" rpy="3.1415926535897402694 9.4988410732511270747e-15 1.5707963267948943376" />
<geometry>
<mesh filename="package://hephaestus_description/meshes/mg4036e-i36-15.stl"/>
</geometry>
</collision>
<visual>
<origin xyz="0.017000000000004455991 8.0697220122651874064e-16 -0.040500000000000854761" rpy="3.1415926535897402694 9.4988410732511270747e-15 1.5707963267948943376" />
<geometry>
<mesh filename="package://hephaestus_description/meshes/mg4036e-i36-8.stl"/>
</geometry>
<material name="mg4036e-i36-8_material">
<color rgba="0 0 0 1.0"/>
</material>
</visual>
<collision>
<origin xyz="0.017000000000004455991 8.0697220122651874064e-16 -0.040500000000000854761" rpy="3.1415926535897402694 9.4988410732511270747e-15 1.5707963267948943376" />
<geometry>
<mesh filename="package://hephaestus_description/meshes/mg4036e-i36-8.stl"/>
</geometry>
</collision>
<inertial>
<origin xyz="-0.0036997041602156218593 1.3840033820693671616e-05 -0.036015874508582561286" rpy="0 0 0"/>
<mass value="0.36469479976118684972" />
<inertia ixx="0.00017590579400331921977" ixy="-1.6003166152372121349e-07"  ixz="-1.4234764840890706391e-06" iyy="0.00018073370179456793995" iyz="3.7737168262945870143e-08" izz="0.00014315770662413736182" />
</inertial>
</link>

<link name="link6">
<visual>
<origin xyz="0.023750000000001422751 0.027999999999994782535 -0.040499999999994984456" rpy="1.5707963267949649477 3.2470583001447329631e-15 4.1043942145274601662e-17" />
<geometry>
<mesh filename="package://hephaestus_description/meshes/m3_6mm.stl"/>
</geometry>
<material name="m3_6mm_material">
<color rgba="0.90196078431372550543 0.90196078431372550543 0.90196078431372550543 1.0"/>
</material>
</visual>
<collision>
<origin xyz="0.023750000000001422751 0.027999999999994782535 -0.040499999999994984456" rpy="1.5707963267949649477 3.2470583001447329631e-15 4.1043942145274601662e-17" />
<geometry>
<mesh filename="package://hephaestus_description/meshes/m3_6mm.stl"/>
</geometry>
</collision>
<visual>
<origin xyz="-0.023750000000001728062 0.027999999999995070499 -0.040499999999995095479" rpy="1.5707963267949649477 3.2470583001447329631e-15 4.1043942145274601662e-17" />
<geometry>
<mesh filename="package://hephaestus_description/meshes/m3_6mm.stl"/>
</geometry>
<material name="m3_6mm_material">
<color rgba="0.90196078431372550543 0.90196078431372550543 0.90196078431372550543 1.0"/>
</material>
</visual>
<collision>
<origin xyz="-0.023750000000001728062 0.027999999999995070499 -0.040499999999995095479" rpy="1.5707963267949649477 3.2470583001447329631e-15 4.1043942145274601662e-17" />
<geometry>
<mesh filename="package://hephaestus_description/meshes/m3_6mm.stl"/>
</geometry>
</collision>
<visual>
<origin xyz="0.010392304845413952163 0.0059999999999989185248 -0.013999999999998125055" rpy="-4.9960036108130151053e-16 3.7127616191747462887e-17 -3.141592653589793116" />
<geometry>
<mesh filename="package://hephaestus_description/meshes/m4_18mm.stl"/>
</geometry>
<material name="m4_18mm_material">
<color rgba="0.90196078431372550543 0.90196078431372550543 0.90196078431372550543 1.0"/>
</material>
</visual>
<collision>
<origin xyz="0.010392304845413952163 0.0059999999999989185248 -0.013999999999998125055" rpy="-4.9960036108130151053e-16 3.7127616191747462887e-17 -3.141592653589793116" />
<geometry>
<mesh filename="package://hephaestus_description/meshes/m4_18mm.stl"/>
</geometry>
</collision>
<visual>
<origin xyz="-0.010392304845414007675 0.0059999999999985577023 -0.013999999999998125055" rpy="-6.9388939039072914865e-16 3.7127616191747462887e-17 -3.141592653589793116" />
<geometry>
<mesh filename="package://hephaestus_description/meshes/m4_18mm.stl"/>
</geometry>
<material name="m4_18mm_material">
<color rgba="0.90196078431372550543 0.90196078431372550543 0.90196078431372550543 1.0"/>
</material>
</visual>
<collision>
<origin xyz="-0.010392304845414007675 0.0059999999999985577023 -0.013999999999998125055" rpy="-6.9388939039072914865e-16 3.7127616191747462887e-17 -3.141592653589793116" />
<geometry>
<mesh filename="package://hephaestus_description/meshes/m4_18mm.stl"/>
</geometry>
</collision>
<visual>
<origin xyz="-0.011875000000000926481 0.027999999999996260519 -0.019931896660117076614" rpy="1.5707963267949651698 3.2470583001447582067e-15 4.1043942145274601662e-17" />
<geometry>
<mesh filename="package://hephaestus_description/meshes/m3_6mm.stl"/>
</geometry>
<material name="m3_6mm_material">
<color rgba="0.90196078431372550543 0.90196078431372550543 0.90196078431372550543 1.0"/>
</material>
</visual>
<collision>
<origin xyz="-0.011875000000000926481 0.027999999999996260519 -0.019931896660117076614" rpy="1.5707963267949651698 3.2470583001447582067e-15 4.1043942145274601662e-17" />
<geometry>
<mesh filename="package://hephaestus_description/meshes/m3_6mm.stl"/>
</geometry>
</collision>
<visual>
<origin xyz="0.011875000000000593414 0.027999999999993887417 -0.06106810333987344741" rpy="1.5707963267949651698 3.2470583001447582067e-15 4.1043942145274601662e-17" />
<geometry>
<mesh filename="package://hephaestus_description/meshes/m3_6mm.stl"/>
</geometry>
<material name="m3_6mm_material">
<color rgba="0.90196078431372550543 0.90196078431372550543 0.90196078431372550543 1.0"/>
</material>
</visual>
<collision>
<origin xyz="0.011875000000000593414 0.027999999999993887417 -0.06106810333987344741" rpy="1.5707963267949651698 3.2470583001447582067e-15 4.1043942145274601662e-17" />
<geometry>
<mesh filename="package://hephaestus_description/meshes/m3_6mm.stl"/>
</geometry>
</collision>
<visual>
<origin xyz="0.011875000000000676681 0.027999999999996184191 -0.019931896660117187636" rpy="1.5707963267949640596 3.2470583001447455849e-15 4.1043942145249358113e-17" />
<geometry>
<mesh filename="package://hephaestus_description/meshes/m3_6mm.stl"/>
</geometry>
<material name="m3_6mm_material">
<color rgba="0.90196078431372550543 0.90196078431372550543 0.90196078431372550543 1.0"/>
</material>
</visual>
<collision>
<origin xyz="0.011875000000000676681 0.027999999999996184191 -0.019931896660117187636" rpy="1.5707963267949640596 3.2470583001447455849e-15 4.1043942145249358113e-17" />
<geometry>
<mesh filename="package://hephaestus_description/meshes/m3_6mm.stl"/>
</geometry>
</collision>
<visual>
<origin xyz="0 9.7971743931995115625e-19 0" rpy="3.141592653589793116 -0 -1.4992097555763063089e-30" />
<geometry>
<mesh filename="package://hephaestus_description/meshes/4036_output_type_a.stl"/>
</geometry>
<material name="4036_output_type_a_material">
<color rgba="0.90196078431372550543 0.90196078431372550543 0.90196078431372550543 1.0"/>
</material>
</visual>
<collision>
<origin xyz="0 9.7971743931995115625e-19 0" rpy="3.141592653589793116 -0 -1.4992097555763063089e-30" />
<geometry>
<mesh filename="package://hephaestus_description/meshes/4036_output_type_a.stl"/>
</geometry>
</collision>
<visual>
<origin xyz="-0.011875000000001009748 0.027999999999993724353 -0.061068103339873114344" rpy="1.5707963267949651698 3.2470583001447582067e-15 4.1043942145274601662e-17" />
<geometry>
<mesh filename="package://hephaestus_description/meshes/m3_6mm.stl"/>
</geometry>
<material name="m3_6mm_material">
<color rgba="0.90196078431372550543 0.90196078431372550543 0.90196078431372550543 1.0"/>
</material>
</visual>
<collision>
<origin xyz="-0.011875000000001009748 0.027999999999993724353 -0.061068103339873114344" rpy="1.5707963267949651698 3.2470583001447582067e-15 4.1043942145274601662e-17" />
<geometry>
<mesh filename="package://hephaestus_description/meshes/m3_6mm.stl"/>
</geometry>
</collision>
<visual>
<origin xyz="0 -0.011999999999999521466 -0.013999999999998458122" rpy="-5.5511151231255933755e-16 3.7127616191796372263e-17 3.141592653589793116" />
<geometry>
<mesh filename="package://hephaestus_description/meshes/m4_18mm.stl"/>
</geometry>
<material name="m4_18mm_material">
<color rgba="0.90196078431372550543 0.90196078431372550543 0.90196078431372550543 1.0"/>
</material>
</visual>
<collision>
<origin xyz="0 -0.011999999999999521466 -0.013999999999998458122" rpy="-5.5511151231255933755e-16 3.7127616191796372263e-17 3.141592653589793116" />
<geometry>
<mesh filename="package://hephaestus_description/meshes/m4_18mm.stl"/>
</geometry>
</collision>
<visual>
<origin xyz="-1.6653345369377348106e-16 0.021999999999994641897 -0.040499999999994762412" rpy="1.5707963267950861841 -6.6388470569207032755e-16 3.1415926535897922278" />
<geometry>
<mesh filename="package://hephaestus_description/meshes/mg4036i36_bracket.stl"/>
</geometry>
<material name="mg4036i36_bracket_material">
<color rgba="0.90196078431372550543 0.90196078431372550543 0.90196078431372550543 1.0"/>
</material>
</visual>
<collision>
<origin xyz="-1.6653345369377348106e-16 0.021999999999994641897 -0.040499999999994762412" rpy="1.5707963267950861841 -6.6388470569207032755e-16 3.1415926535897922278" />
<geometry>
<mesh filename="package://hephaestus_description/meshes/mg4036i36_bracket.stl"/>
</geometry>
</collision>
<visual>
<origin xyz="-4.1633363423443370266e-17 -0.017000000000000459188 -0.040499999999995428546" rpy="-7.2164496600632650773e-16 3.7127616191726952504e-17 -3.141592653589793116" />
<geometry>
<mesh filename="package://hephaestus_description/meshes/mg4036e-i36-1.stl"/>
</geometry>
<material name="mg4036e-i36-1_material">
<color rgba="0.90196078431372550543 0.90196078431372550543 0.90196078431372550543 1.0"/>
</material>
</visual>
<collision>
<origin xyz="-4.1633363423443370266e-17 -0.017000000000000459188 -0.040499999999995428546" rpy="-7.2164496600632650773e-16 3.7127616191726952504e-17 -3.141592653589793116" />
<geometry>
<mesh filename="package://hephaestus_description/meshes/mg4036e-i36-1.stl"/>
</geometry>
</collision>
<visual>
<origin xyz="-4.1633363423443370266e-17 -0.017000000000000459188 -0.040499999999995428546" rpy="-7.2164496600632650773e-16 3.7127616191726952504e-17 -3.141592653589793116" />
<geometry>
<mesh filename="package://hephaestus_description/meshes/mg4036e-i36-17.stl"/>
</geometry>
<material name="mg4036e-i36-17_material">
<color rgba="0 0 0 1.0"/>
</material>
</visual>
<collision>
<origin xyz="-4.1633363423443370266e-17 -0.017000000000000459188 -0.040499999999995428546" rpy="-7.2164496600632650773e-16 3.7127616191726952504e-17 -3.141592653589793116" />
<geometry>
<mesh filename="package://hephaestus_description/meshes/mg4036e-i36-17.stl"/>
</geometry>
</collision>
<visual>
<origin xyz="-4.1633363423443370266e-17 -0.017000000000000459188 -0.040499999999995428546" rpy="-7.2164496600632650773e-16 3.7127616191726952504e-17 -3.141592653589793116" />
<geometry>
<mesh filename="package://hephaestus_description/meshes/mg4036e-i36-20.stl"/>
</geometry>
<material name="mg4036e-i36-20_material">
<color rgba="0.90196078431372550543 0.90196078431372550543 0.90196078431372550543 1.0"/>
</material>
</visual>
<collision>
<origin xyz="-4.1633363423443370266e-17 -0.017000000000000459188 -0.040499999999995428546" rpy="-7.2164496600632650773e-16 3.7127616191726952504e-17 -3.141592653589793116" />
<geometry>
<mesh filename="package://hephaestus_description/meshes/mg4036e-i36-20.stl"/>
</geometry>
</collision>
<visual>
<origin xyz="-4.1633363423443370266e-17 -0.017000000000000459188 -0.040499999999995428546" rpy="-7.2164496600632650773e-16 3.7127616191726952504e-17 -3.141592653589793116" />
<geometry>
<mesh filename="package://hephaestus_description/meshes/mg4036e-i36-16.stl"/>
</geometry>
<material name="mg4036e-i36-16_material">
<color rgba="0 0 0 1.0"/>
</material>
</visual>
<collision>
<origin xyz="-4.1633363423443370266e-17 -0.017000000000000459188 -0.040499999999995428546" rpy="-7.2164496600632650773e-16 3.7127616191726952504e-17 -3.141592653589793116" />
<geometry>
<mesh filename="package://hephaestus_description/meshes/mg4036e-i36-16.stl"/>
</geometry>
</collision>
<visual>
<origin xyz="-4.1633363423443370266e-17 -0.017000000000000459188 -0.040499999999995428546" rpy="-7.2164496600632650773e-16 3.7127616191726952504e-17 -3.141592653589793116" />
<geometry>
<mesh filename="package://hephaestus_description/meshes/mg4036e-i36-4.stl"/>
</geometry>
<material name="mg4036e-i36-4_material">
<color rgba="0.90196078431372550543 0.90196078431372550543 0.90196078431372550543 1.0"/>
</material>
</visual>
<collision>
<origin xyz="-4.1633363423443370266e-17 -0.017000000000000459188 -0.040499999999995428546" rpy="-7.2164496600632650773e-16 3.7127616191726952504e-17 -3.141592653589793116" />
<geometry>
<mesh filename="package://hephaestus_description/meshes/mg4036e-i36-4.stl"/>
</geometry>
</collision>
<visual>
<origin xyz="-4.1633363423443370266e-17 -0.017000000000000459188 -0.040499999999995428546" rpy="-7.2164496600632650773e-16 3.7127616191726952504e-17 -3.141592653589793116" />
<geometry>
<mesh filename="package://hephaestus_description/meshes/mg4036e-i36-7.stl"/>
</geometry>
<material name="mg4036e-i36-7_material">
<color rgba="0 0 0 1.0"/>
</material>
</visual>
<collision>
<origin xyz="-4.1633363423443370266e-17 -0.017000000000000459188 -0.040499999999995428546" rpy="-7.2164496600632650773e-16 3.7127616191726952504e-17 -3.141592653589793116" />
<geometry>
<mesh filename="package://hephaestus_description/meshes/mg4036e-i36-7.stl"/>
</geometry>
</collision>
<visual>
<origin xyz="-4.1633363423443370266e-17 -0.017000000000000459188 -0.040499999999995428546" rpy="-7.2164496600632650773e-16 3.7127616191726952504e-17 -3.141592653589793116" />
<geometry>
<mesh filename="package://hephaestus_description/meshes/mg4036e-i36-25.stl"/>
</geometry>
<material name="mg4036e-i36-25_material">
<color rgba="1 1 1 1.0"/>
</material>
</visual>
<collision>
<origin xyz="-4.1633363423443370266e-17 -0.017000000000000459188 -0.040499999999995428546" rpy="-7.2164496600632650773e-16 3.7127616191726952504e-17 -3.141592653589793116" />
<geometry>
<mesh filename="package://hephaestus_description/meshes/mg4036e-i36-25.stl"/>
</geometry>
</collision>
<visual>
<origin xyz="-4.1633363423443370266e-17 -0.017000000000000459188 -0.040499999999995428546" rpy="-7.2164496600632650773e-16 3.7127616191726952504e-17 -3.141592653589793116" />
<geometry>
<mesh filename="package://hephaestus_description/meshes/mg4036e-i36-2.stl"/>
</geometry>
<material name="mg4036e-i36-2_material">
<color rgba="0.90196078431372550543 0.90196078431372550543 0.90196078431372550543 1.0"/>
</material>
</visual>
<collision>
<origin xyz="-4.1633363423443370266e-17 -0.017000000000000459188 -0.040499999999995428546" rpy="-7.2164496600632650773e-16 3.7127616191726952504e-17 -3.141592653589793116" />
<geometry>
<mesh filename="package://hephaestus_description/meshes/mg4036e-i36-2.stl"/>
</geometry>
</collision>
<visual>
<origin xyz="-4.1633363423443370266e-17 -0.017000000000000459188 -0.040499999999995428546" rpy="-7.2164496600632650773e-16 3.7127616191726952504e-17 -3.141592653589793116" />
<geometry>
<mesh filename="package://hephaestus_description/meshes/mg4036e-i36-19.stl"/>
</geometry>
<material name="mg4036e-i36-19_material">
<color rgba="0.90196078431372550543 0.90196078431372550543 0.90196078431372550543 1.0"/>
</material>
</visual>
<collision>
<origin xyz="-4.1633363423443370266e-17 -0.017000000000000459188 -0.040499999999995428546" rpy="-7.2164496600632650773e-16 3.7127616191726952504e-17 -3.141592653589793116" />
<geometry>
<mesh filename="package://hephaestus_description/meshes/mg4036e-i36-19.stl"/>
</geometry>
</collision>
<visual>
<origin xyz="-4.1633363423443370266e-17 -0.017000000000000459188 -0.040499999999995428546" rpy="-7.2164496600632650773e-16 3.7127616191726952504e-17 -3.141592653589793116" />
<geometry>
<mesh filename="package://hephaestus_description/meshes/mg4036e-i36-12.stl"/>
</geometry>
<material name="mg4036e-i36-12_material">
<color rgba="0.90196078431372550543 0.90196078431372550543 0.90196078431372550543 1.0"/>
</material>
</visual>
<collision>
<origin xyz="-4.1633363423443370266e-17 -0.017000000000000459188 -0.040499999999995428546" rpy="-7.2164496600632650773e-16 3.7127616191726952504e-17 -3.141592653589793116" />
<geometry>
<mesh filename="package://hephaestus_description/meshes/mg4036e-i36-12.stl"/>
</geometry>
</collision>
<visual>
<origin xyz="-4.1633363423443370266e-17 -0.017000000000000459188 -0.040499999999995428546" rpy="-7.2164496600632650773e-16 3.7127616191726952504e-17 -3.141592653589793116" />
<geometry>
<mesh filename="package://hephaestus_description/meshes/mg4036e-i36-10.stl"/>
</geometry>
<material name="mg4036e-i36-10_material">
<color rgba="0 0 0 1.0"/>
</material>
</visual>
<collision>
<origin xyz="-4.1633363423443370266e-17 -0.017000000000000459188 -0.040499999999995428546" rpy="-7.2164496600632650773e-16 3.7127616191726952504e-17 -3.141592653589793116" />
<geometry>
<mesh filename="package://hephaestus_description/meshes/mg4036e-i36-10.stl"/>
</geometry>
</collision>
<visual>
<origin xyz="-4.1633363423443370266e-17 -0.017000000000000459188 -0.040499999999995428546" rpy="-7.2164496600632650773e-16 3.7127616191726952504e-17 -3.141592653589793116" />
<geometry>
<mesh filename="package://hephaestus_description/meshes/mg4036e-i36-24.stl"/>
</geometry>
<material name="mg4036e-i36-24_material">
<color rgba="0 0 0 1.0"/>
</material>
</visual>
<collision>
<origin xyz="-4.1633363423443370266e-17 -0.017000000000000459188 -0.040499999999995428546" rpy="-7.2164496600632650773e-16 3.7127616191726952504e-17 -3.141592653589793116" />
<geometry>
<mesh filename="package://hephaestus_description/meshes/mg4036e-i36-24.stl"/>
</geometry>
</collision>
<visual>
<origin xyz="-4.1633363423443370266e-17 -0.017000000000000459188 -0.040499999999995428546" rpy="-7.2164496600632650773e-16 3.7127616191726952504e-17 -3.141592653589793116" />
<geometry>
<mesh filename="package://hephaestus_description/meshes/mg4036e-i36-14.stl"/>
</geometry>
<material name="mg4036e-i36-14_material">
<color rgba="0 0 0 1.0"/>
</material>
</visual>
<collision>
<origin xyz="-4.1633363423443370266e-17 -0.017000000000000459188 -0.040499999999995428546" rpy="-7.2164496600632650773e-16 3.7127616191726952504e-17 -3.141592653589793116" />
<geometry>
<mesh filename="package://hephaestus_description/meshes/mg4036e-i36-14.stl"/>
</geometry>
</collision>
<visual>
<origin xyz="-4.1633363423443370266e-17 -0.017000000000000459188 -0.040499999999995428546" rpy="-7.2164496600632650773e-16 3.7127616191726952504e-17 -3.141592653589793116" />
<geometry>
<mesh filename="package://hephaestus_description/meshes/mg4036e-i36-5.stl"/>
</geometry>
<material name="mg4036e-i36-5_material">
<color rgba="0.90196078431372550543 0.90196078431372550543 0.90196078431372550543 1.0"/>
</material>
</visual>
<collision>
<origin xyz="-4.1633363423443370266e-17 -0.017000000000000459188 -0.040499999999995428546" rpy="-7.2164496600632650773e-16 3.7127616191726952504e-17 -3.141592653589793116" />
<geometry>
<mesh filename="package://hephaestus_description/meshes/mg4036e-i36-5.stl"/>
</geometry>
</collision>
<visual>
<origin xyz="-4.1633363423443370266e-17 -0.017000000000000459188 -0.040499999999995428546" rpy="-7.2164496600632650773e-16 3.7127616191726952504e-17 -3.141592653589793116" />
<geometry>
<mesh filename="package://hephaestus_description/meshes/mg4036e-i36-9.stl"/>
</geometry>
<material name="mg4036e-i36-9_material">
<color rgba="0 0 0 1.0"/>
</material>
</visual>
<collision>
<origin xyz="-4.1633363423443370266e-17 -0.017000000000000459188 -0.040499999999995428546" rpy="-7.2164496600632650773e-16 3.7127616191726952504e-17 -3.141592653589793116" />
<geometry>
<mesh filename="package://hephaestus_description/meshes/mg4036e-i36-9.stl"/>
</geometry>
</collision>
<visual>
<origin xyz="-4.1633363423443370266e-17 -0.017000000000000459188 -0.040499999999995428546" rpy="-7.2164496600632650773e-16 3.7127616191726952504e-17 -3.141592653589793116" />
<geometry>
<mesh filename="package://hephaestus_description/meshes/mg4036e-i36-6.stl"/>
</geometry>
<material name="mg4036e-i36-6_material">
<color rgba="0.90196078431372550543 0.90196078431372550543 0.90196078431372550543 1.0"/>
</material>
</visual>
<collision>
<origin xyz="-4.1633363423443370266e-17 -0.017000000000000459188 -0.040499999999995428546" rpy="-7.2164496600632650773e-16 3.7127616191726952504e-17 -3.141592653589793116" />
<geometry>
<mesh filename="package://hephaestus_description/meshes/mg4036e-i36-6.stl"/>
</geometry>
</collision>
<visual>
<origin xyz="-4.1633363423443370266e-17 -0.017000000000000459188 -0.040499999999995428546" rpy="-7.2164496600632650773e-16 3.7127616191726952504e-17 -3.141592653589793116" />
<geometry>
<mesh filename="package://hephaestus_description/meshes/mg4036e-i36-30.stl"/>
</geometry>
<material name="mg4036e-i36-30_material">
<color rgba="0 0 0 1.0"/>
</material>
</visual>
<collision>
<origin xyz="-4.1633363423443370266e-17 -0.017000000000000459188 -0.040499999999995428546" rpy="-7.2164496600632650773e-16 3.7127616191726952504e-17 -3.141592653589793116" />
<geometry>
<mesh filename="package://hephaestus_description/meshes/mg4036e-i36-30.stl"/>
</geometry>
</collision>
<visual>
<origin xyz="-4.1633363423443370266e-17 -0.017000000000000459188 -0.040499999999995428546" rpy="-7.2164496600632650773e-16 3.7127616191726952504e-17 -3.141592653589793116" />
<geometry>
<mesh filename="package://hephaestus_description/meshes/mg4036e-i36-28.stl"/>
</geometry>
<material name="mg4036e-i36-28_material">
<color rgba="1 1 1 1.0"/>
</material>
</visual>
<collision>
<origin xyz="-4.1633363423443370266e-17 -0.017000000000000459188 -0.040499999999995428546" rpy="-7.2164496600632650773e-16 3.7127616191726952504e-17 -3.141592653589793116" />
<geometry>
<mesh filename="package://hephaestus_description/meshes/mg4036e-i36-28.stl"/>
</geometry>
</collision>
<visual>
<origin xyz="-4.1633363423443370266e-17 -0.017000000000000459188 -0.040499999999995428546" rpy="-7.2164496600632650773e-16 3.7127616191726952504e-17 -3.141592653589793116" />
<geometry>
<mesh filename="package://hephaestus_description/meshes/mg4036e-i36-21.stl"/>
</geometry>
<material name="mg4036e-i36-21_material">
<color rgba="0.90196078431372550543 0.90196078431372550543 0.90196078431372550543 1.0"/>
</material>
</visual>
<collision>
<origin xyz="-4.1633363423443370266e-17 -0.017000000000000459188 -0.040499999999995428546" rpy="-7.2164496600632650773e-16 3.7127616191726952504e-17 -3.141592653589793116" />
<geometry>
<mesh filename="package://hephaestus_description/meshes/mg4036e-i36-21.stl"/>
</geometry>
</collision>
<visual>
<origin xyz="-4.1633363423443370266e-17 -0.017000000000000459188 -0.040499999999995428546" rpy="-7.2164496600632650773e-16 3.7127616191726952504e-17 -3.141592653589793116" />
<geometry>
<mesh filename="package://hephaestus_description/meshes/mg4036e-i36-26.stl"/>
</geometry>
<material name="mg4036e-i36-26_material">
<color rgba="1 1 1 1.0"/>
</material>
</visual>
<collision>
<origin xyz="-4.1633363423443370266e-17 -0.017000000000000459188 -0.040499999999995428546" rpy="-7.2164496600632650773e-16 3.7127616191726952504e-17 -3.141592653589793116" />
<geometry>
<mesh filename="package://hephaestus_description/meshes/mg4036e-i36-26.stl"/>
</geometry>
</collision>
<visual>
<origin xyz="-4.1633363423443370266e-17 -0.017000000000000459188 -0.040499999999995428546" rpy="-7.2164496600632650773e-16 3.7127616191726952504e-17 -3.141592653589793116" />
<geometry>
<mesh filename="package://hephaestus_description/meshes/mg4036e-i36-11.stl"/>
</geometry>
<material name="mg4036e-i36-11_material">
<color rgba="0 0 0 1.0"/>
</material>
</visual>
<collision>
<origin xyz="-4.1633363423443370266e-17 -0.017000000000000459188 -0.040499999999995428546" rpy="-7.2164496600632650773e-16 3.7127616191726952504e-17 -3.141592653589793116" />
<geometry>
<mesh filename="package://hephaestus_description/meshes/mg4036e-i36-11.stl"/>
</geometry>
</collision>
<visual>
<origin xyz="-4.1633363423443370266e-17 -0.017000000000000459188 -0.040499999999995428546" rpy="-7.2164496600632650773e-16 3.7127616191726952504e-17 -3.141592653589793116" />
<geometry>
<mesh filename="package://hephaestus_description/meshes/mg4036e-i36-3.stl"/>
</geometry>
<material name="mg4036e-i36-3_material">
<color rgba="0.90196078431372550543 0.90196078431372550543 0.90196078431372550543 1.0"/>
</material>
</visual>
<collision>
<origin xyz="-4.1633363423443370266e-17 -0.017000000000000459188 -0.040499999999995428546" rpy="-7.2164496600632650773e-16 3.7127616191726952504e-17 -3.141592653589793116" />
<geometry>
<mesh filename="package://hephaestus_description/meshes/mg4036e-i36-3.stl"/>
</geometry>
</collision>
<visual>
<origin xyz="-4.1633363423443370266e-17 -0.017000000000000459188 -0.040499999999995428546" rpy="-7.2164496600632650773e-16 3.7127616191726952504e-17 -3.141592653589793116" />
<geometry>
<mesh filename="package://hephaestus_description/meshes/mg4036e-i36-29.stl"/>
</geometry>
<material name="mg4036e-i36-29_material">
<color rgba="0 0 0 1.0"/>
</material>
</visual>
<collision>
<origin xyz="-4.1633363423443370266e-17 -0.017000000000000459188 -0.040499999999995428546" rpy="-7.2164496600632650773e-16 3.7127616191726952504e-17 -3.141592653589793116" />
<geometry>
<mesh filename="package://hephaestus_description/meshes/mg4036e-i36-29.stl"/>
</geometry>
</collision>
<visual>
<origin xyz="-4.1633363423443370266e-17 -0.017000000000000459188 -0.040499999999995428546" rpy="-7.2164496600632650773e-16 3.7127616191726952504e-17 -3.141592653589793116" />
<geometry>
<mesh filename="package://hephaestus_description/meshes/mg4036e-i36-18.stl"/>
</geometry>
<material name="mg4036e-i36-18_material">
<color rgba="0 0 0 1.0"/>
</material>
</visual>
<collision>
<origin xyz="-4.1633363423443370266e-17 -0.017000000000000459188 -0.040499999999995428546" rpy="-7.2164496600632650773e-16 3.7127616191726952504e-17 -3.141592653589793116" />
<geometry>
<mesh filename="package://hephaestus_description/meshes/mg4036e-i36-18.stl"/>
</geometry>
</collision>
<visual>
<origin xyz="-4.1633363423443370266e-17 -0.017000000000000459188 -0.040499999999995428546" rpy="-7.2164496600632650773e-16 3.7127616191726952504e-17 -3.141592653589793116" />
<geometry>
<mesh filename="package://hephaestus_description/meshes/mg4036e-i36-22.stl"/>
</geometry>
<material name="mg4036e-i36-22_material">
<color rgba="1 1 1 1.0"/>
</material>
</visual>
<collision>
<origin xyz="-4.1633363423443370266e-17 -0.017000000000000459188 -0.040499999999995428546" rpy="-7.2164496600632650773e-16 3.7127616191726952504e-17 -3.141592653589793116" />
<geometry>
<mesh filename="package://hephaestus_description/meshes/mg4036e-i36-22.stl"/>
</geometry>
</collision>
<visual>
<origin xyz="-4.1633363423443370266e-17 -0.017000000000000459188 -0.040499999999995428546" rpy="-7.2164496600632650773e-16 3.7127616191726952504e-17 -3.141592653589793116" />
<geometry>
<mesh filename="package://hephaestus_description/meshes/mg4036e-i36-13.stl"/>
</geometry>
<material name="mg4036e-i36-13_material">
<color rgba="0 0 0 1.0"/>
</material>
</visual>
<collision>
<origin xyz="-4.1633363423443370266e-17 -0.017000000000000459188 -0.040499999999995428546" rpy="-7.2164496600632650773e-16 3.7127616191726952504e-17 -3.141592653589793116" />
<geometry>
<mesh filename="package://hephaestus_description/meshes/mg4036e-i36-13.stl"/>
</geometry>
</collision>
<visual>
<origin xyz="-4.1633363423443370266e-17 -0.017000000000000459188 -0.040499999999995428546" rpy="-7.2164496600632650773e-16 3.7127616191726952504e-17 -3.141592653589793116" />
<geometry>
<mesh filename="package://hephaestus_description/meshes/mg4036e-i36-27.stl"/>
</geometry>
<material name="mg4036e-i36-27_material">
<color rgba="0 0 0 1.0"/>
</material>
</visual>
<collision>
<origin xyz="-4.1633363423443370266e-17 -0.017000000000000459188 -0.040499999999995428546" rpy="-7.2164496600632650773e-16 3.7127616191726952504e-17 -3.141592653589793116" />
<geometry>
<mesh filename="package://hephaestus_description/meshes/mg4036e-i36-27.stl"/>
</geometry>
</collision>
<visual>
<origin xyz="-4.1633363423443370266e-17 -0.017000000000000459188 -0.040499999999995428546" rpy="-7.2164496600632650773e-16 3.7127616191726952504e-17 -3.141592653589793116" />
<geometry>
<mesh filename="package://hephaestus_description/meshes/mg4036e-i36-23.stl"/>
</geometry>
<material name="mg4036e-i36-23_material">
<color rgba="1 1 1 1.0"/>
</material>
</visual>
<collision>
<origin xyz="-4.1633363423443370266e-17 -0.017000000000000459188 -0.040499999999995428546" rpy="-7.2164496600632650773e-16 3.7127616191726952504e-17 -3.141592653589793116" />
<geometry>
<mesh filename="package://hephaestus_description/meshes/mg4036e-i36-23.stl"/>
</geometry>
</collision>
<visual>
<origin xyz="-4.1633363423443370266e-17 -0.017000000000000459188 -0.040499999999995428546" rpy="-7.2164496600632650773e-16 3.7127616191726952504e-17 -3.141592653589793116" />
<geometry>
<mesh filename="package://hephaestus_description/meshes/mg4036e-i36-15.stl"/>
</geometry>
<material name="mg4036e-i36-15_material">
<color rgba="0 0 0 1.0"/>
</material>
</visual>
<collision>
<origin xyz="-4.1633363423443370266e-17 -0.017000000000000459188 -0.040499999999995428546" rpy="-7.2164496600632650773e-16 3.7127616191726952504e-17 -3.141592653589793116" />
<geometry>
<mesh filename="package://hephaestus_description/meshes/mg4036e-i36-15.stl"/>
</geometry>
</collision>
<visual>
<origin xyz="-4.1633363423443370266e-17 -0.017000000000000459188 -0.040499999999995428546" rpy="-7.2164496600632650773e-16 3.7127616191726952504e-17 -3.141592653589793116" />
<geometry>
<mesh filename="package://hephaestus_description/meshes/mg4036e-i36-8.stl"/>
</geometry>
<material name="mg4036e-i36-8_material">
<color rgba="0 0 0 1.0"/>
</material>
</visual>
<collision>
<origin xyz="-4.1633363423443370266e-17 -0.017000000000000459188 -0.040499999999995428546" rpy="-7.2164496600632650773e-16 3.7127616191726952504e-17 -3.141592653589793116" />
<geometry>
<mesh filename="package://hephaestus_description/meshes/mg4036e-i36-8.stl"/>
</geometry>
</collision>
<inertial>
<origin xyz="-1.3845926791661307585e-05 0.0036997041602181818774 -0.036029405556311989989" rpy="0 0 0"/>
<mass value="0.36469479976118679421" />
<inertia ixx="0.00018077789067561010963" ixy="-1.5978994519047080577e-07"  ixz="-7.4703888445781114298e-09" iyy="0.00017594998282487154151" iyz="1.4852326485880867592e-06" izz="0.0001431577065646256672" />
</inertial>
</link>

<link name="link7">
<visual>
<origin xyz="-2.7755575615628913511e-17 0 -0.0070000000000000027478" rpy="-3.141592653589793116 3.6872457559125297232e-33 -1.570796326794896558" />
<geometry>
<mesh filename="package://hephaestus_description/meshes/calibration_board.stl"/>
</geometry>
<material name="calibration_board_material">
<color rgba="0.90196078431372550543 0.90196078431372550543 0.90196078431372550543 1.0"/>
</material>
</visual>
<collision>
<origin xyz="-2.7755575615628913511e-17 0 -0.0070000000000000027478" rpy="-3.141592653589793116 3.6872457559125297232e-33 -1.570796326794896558" />
<geometry>
<mesh filename="package://hephaestus_description/meshes/calibration_board.stl"/>
</geometry>
</collision>
<visual>
<origin xyz="0 0 -0.0029999999999999991951" rpy="-3.141592653589793116 -7.6231668077606401322e-31 3.4771116552823254938e-32" />
<geometry>
<mesh filename="package://hephaestus_description/meshes/4036_out_type_b.stl"/>
</geometry>
<material name="4036_out_type_b_material">
<color rgba="0.90196078431372550543 0.90196078431372550543 0.90196078431372550543 1.0"/>
</material>
</visual>
<collision>
<origin xyz="0 0 -0.0029999999999999991951" rpy="-3.141592653589793116 -7.6231668077606401322e-31 3.4771116552823254938e-32" />
<geometry>
<mesh filename="package://hephaestus_description/meshes/4036_out_type_b.stl"/>
</geometry>
</collision>
<inertial>
<origin xyz="-1.6395302375218999336e-17 5.7198658319116473601e-19 -0.01221704734184261669" rpy="0 0 0"/>
<mass value="0.10227431045687090938" />
<inertia ixx="6.0983338350996101214e-05" ixy="-1.1075268036767558778e-36"  ixz="-6.3111550526199572127e-21" iyy="6.0983338350996162201e-05" iyz="-6.2326399896819951716e-23" izz="0.00011590760078178941593" />
</inertial>
</link>

<joint name="joint6" type="revolute">
<origin xyz="-4.1633363423443370266e-17 0.027499999999999576866 -0.040499999999995428546" rpy="1.5707963267948970021 -3.7127616191727149719e-17 1.126307145178156865e-16" />
<parent link="link6" />
<child link="link7" />
<axis xyz="0 0 1"/>
<limit effort="1" velocity="20" lower="-3.141592653589793116" upper="3.141592653589793116"/>
<joint_properties friction="0.0"/>
</joint>

<joint name="joint5" type="revolute">
<origin xyz="-0.027499999999995528022 8.9672221510032624569e-16 -0.040500000000003186229" rpy="3.1415926535897913396 -1.570796326794881681 0" />
<parent link="link5" />
<child link="link6" />
<axis xyz="0 0 1"/>
<limit effort="1" velocity="20" lower="-3.141592653589793116" upper="3.141592653589793116"/>
<joint_properties friction="0.0"/>
</joint>

<joint name="joint4" type="revolute">
<origin xyz="-8.2870840143356503561e-15 0.27900000000001828893 -0.014500000000023660629" rpy="-3.141592653589793116 -2.1154796746705451328e-14 -1.5707963267948636954" />
<parent link="link4" />
<child link="link5" />
<axis xyz="0 0 1"/>
<limit effort="1" velocity="20" lower="-3.141592653589793116" upper="3.141592653589793116"/>
<joint_properties friction="0.0"/>
</joint>

<joint name="joint3" type="revolute">
<origin xyz="4.2970981455342213872e-14 0.2790000000000495417 5.6898930012039272697e-15" rpy="-3.1415926535897678029 -1.6416917379929518254e-15 3.1415926535897704674" />
<parent link="link3" />
<child link="link4" />
<axis xyz="0 0 1"/>
<limit effort="1" velocity="20" lower="-3.141592653589793116" upper="3.141592653589793116"/>
<joint_properties friction="0.0"/>
</joint>

<joint name="joint2" type="revolute">
<origin xyz="-1.3437323880039651603e-17 -0.049999999999999968081 -0.061000000000000033362" rpy="-1.5707963267948956698 -1.7691193402745245924e-16 -3.2758948197308381828e-16" />
<parent link="link2" />
<child link="link3" />
<axis xyz="0 0 1"/>
<limit effort="1" velocity="20" lower="-3.141592653589793116" upper="3.141592653589793116"/>
<joint_properties friction="0.0"/>
</joint>

<joint name="joint1" type="revolute">
<origin xyz="-8.8974547750719139184e-20 -3.3306690738838730044e-19 0.0030000000000000000625" rpy="3.1415926535897922278 -2.0432878948692603085e-16 1.5707963267949001107" />
<parent link="link1" />
<child link="link2" />
<axis xyz="0 0 1"/>
<limit effort="1" velocity="20" lower="-3.141592653589793116" upper="3.141592653589793116"/>
<joint_properties friction="0.0"/>
</joint>


</robot>
